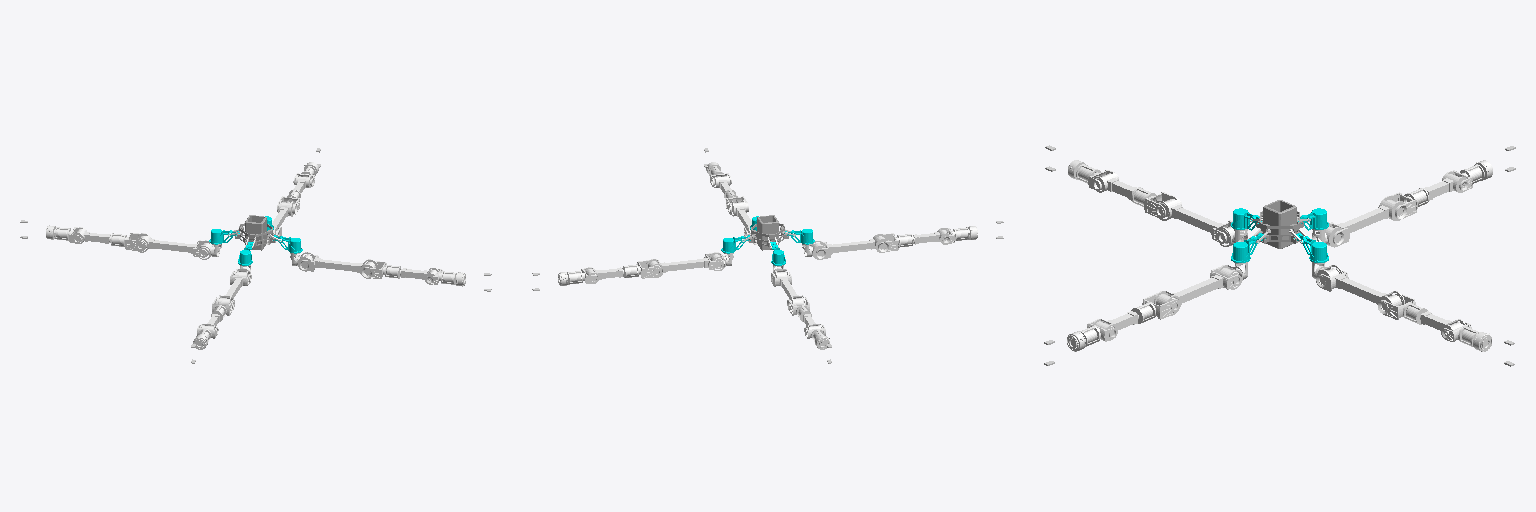
--- What the picture shows (computed from the rendered views, not written in the file) ---
3 views of the same robot in one strip: view 1: azimuth 30°, elevation 25°; view 2: azimuth 150°, elevation 25°; view 3: azimuth 270°, elevation 25° (orthographic).
Robot: robot_description — 78 links, 77 joints (56 revolute, 1 prismatic, 20 fixed); root link base_link; default pose: every joint at zero.
Visible links, largest first — view 1: Link4_2, Link2_2, base_link; view 2: Link3_2, Link1_2, base_link; view 3: base_link, Link1_2, Link4_2, Link2_2, Link3_2, Link4_3, Link1_3, Link3_3, Link2_3, Link3_4, Link2_4.
Link boxes in pixels (x1=…): Link4_2: x1=299, y1=254, x2=377, y2=278; Link2_2: x1=136, y1=233, x2=207, y2=257; base_link: x1=235, y1=215, x2=275, y2=250; Link3_2: x1=815, y1=234, x2=888, y2=258; Link1_2: x1=646, y1=253, x2=723, y2=277; base_link: x1=748, y1=215, x2=788, y2=250; base_link: x1=1256, y1=200, x2=1303, y2=248; Link1_2: x1=1316, y1=268, x2=1404, y2=315; Link4_2: x1=1154, y1=267, x2=1241, y2=315; Link2_2: x1=1329, y1=196, x2=1404, y2=245; Link3_2: x1=1156, y1=196, x2=1243, y2=243; Link4_3: x1=1131, y1=293, x2=1180, y2=323; Link1_3: x1=1378, y1=294, x2=1427, y2=324; Link3_3: x1=1132, y1=187, x2=1181, y2=218; Link2_3: x1=1379, y1=188, x2=1428, y2=219; Link3_4: x1=1094, y1=171, x2=1136, y2=200; Link2_4: x1=1424, y1=171, x2=1466, y2=200.
Size in the robot's own frame: 1.88 by 1.88 by 0.2682 metres.
34 mesh visuals loaded from 15 distinct referenced files (10 binary STL); not drawn: 36 (reference not matched to a file when rendering).

robot.urdf — robot_description:
<?xml version="1.0" ?>
<!-- =================================================================================== -->
<!-- |    This document was autogenerated by xacro from robot_description.xacro        | -->
<!-- |    EDITING THIS FILE BY HAND IS NOT RECOMMENDED                                 | -->
<!-- =================================================================================== -->
<!-- This URDF was automatically created by SolidWorks to URDF Exporter! Originally created by Stephen Brawner ([email redacted]) 
     Commit Version: 1.6.0-1-g15f4949  Build Version: 1.6.7594.29634
     For more information, please see http://wiki.ros.org/sw_urdf_exporter -->
<robot name="robot_description">
    <!--body*********************************************************************************************************-->
    <!-- <link name="world" /> -->

    <link name="base_link">
        <inertial>
            <origin rpy="0 0 0" xyz="0 0 0.042" />
            <mass value="1.492" />
            <inertia ixx="0.004886486" ixy="-0.000017397" ixz="-0.000263075" iyy="0.004100237" iyz="0" izz="0.003937989" />
        </inertial>
        <visual>
            <origin rpy="0 0 0" xyz="0 0 0" />
            <geometry>
                <mesh filename="package://robot_description/meshes/base_link.STL" />
            </geometry>
            <material name="">
                <color rgba="0.75294 0.75294 0.75294 1" />
            </material>
        </visual>
        <collision>
            <origin rpy="0 0 0" xyz="0 0 0" />
            <geometry>
                <mesh filename="package://robot_description/meshes/base_link.STL" />
            </geometry>
            <surface>
                <friction>
                    <torsional>
                        <coefficient>5.0</coefficient>
                        <surface_radius>0.10</surface_radius>
                        <use_patch_radius>false</use_patch_radius>
                    </torsional>
                </friction>
            </surface>
        </collision>
    </link>
    <!-- <joint name="world_to_truss_link" type="fixed">
        <parent link="world" />
        <child link="truss_link" />
        <origin rpy="1.5708 0 3.1415" xyz="0.6625 0 0" />
    </joint>
    <link name="truss_link">
        <inertial>
            <origin rpy="0 0 0" xyz="0.36747875296263 -0.0267703008644749 2.17639122268576E-06" />
            <mass value="21.7746312239973" />
            <inertia ixx="6.13854571738268" ixy="0.0126716758688149" ixz="-0.000126373819517297" iyy="16.7375552194284" iyz="-1.43555608026521E-06" izz="10.6624119014708" />
        </inertial>
        <visual>
            <origin rpy="0 0 0" xyz="0 0 0" />
            <geometry>
                <mesh filename="package://robot_description/meshes/truss_link.STL" />
            </geometry>
            <material name="">
                <color rgba="0.792156862745098 0.819607843137255 0.933333333333333 1" />
            </material>
        </visual>
        <collision>
            <origin rpy="0 0 0" xyz="0 0 0" />
            <geometry>
                <mesh filename="package://robot_description/meshes/truss_link.STL" />
            </geometry>
        </collision>
    </link>
    <link name="dummy_point1" />
    <joint name="truss_link_to_point1" type="fixed">
        <parent link="truss_link" />
        <child link="dummy_point1" />
        <origin rpy="1.5708 0 0" xyz="0.795 0 0.53" />
    </joint>
    <link name="dummy_point2" />
    <joint name="truss_link_to_point2" type="fixed">
        <parent link="truss_link" />
        <child link="dummy_point2" />
        <origin rpy="1.5708 0 0" xyz="0.795 0 -0.53" />
    </joint>
    <link name="dummy_point3" />
    <joint name="truss_link_to_point3" type="fixed">
        <parent link="truss_link" />
        <child link="dummy_point3" />
        <origin rpy="1.5708 0.707 0" xyz="0.08 0.18 0.40" />
    </joint>
    <link name="dummy_point4" />
    <joint name="truss_link_to_point4" type="fixed">
        <parent link="truss_link" />
        <child link="dummy_point4" />
        <origin rpy="0 0 0" xyz="0 0.215 -0.3" />
    </joint>
    <link name="object" />
    <joint name="truss_link_to_obj" type="fixed">
        <parent link="truss_link" />
        <child link="object" />
        <origin rpy="1.5708 0.707 0" xyz="0.08 0.03 0.40" />
    </joint>
    <link name="object1" />
    <joint name="truss_link_to_obj1" type="fixed">
        <parent link="truss_link" />
        <child link="object1" />
        <origin rpy="0 3.1416 0" xyz="-0.1 0.215 0.085" />
    </joint>
    <link name="object2" />
    <joint name="truss_link_to_obj2" type="fixed">
        <parent link="truss_link" />
        <child link="object2" />
        <origin rpy="0 0 -1.5708" xyz="-0.265 0.215 -0.35" />
    </joint>
    <link name="cube_l" />
    <joint name="truss_link_to_cube_l" type="fixed">
        <parent link="truss_link" />
        <child link="cube_l" />
        <origin rpy="0 3.1416 0" xyz="-0.1175 0.12 0.2325" />
    </joint>
    <link name="cube_r" />
    <joint name="truss_link_to_cube_r" type="fixed">
        <parent link="truss_link" />
        <child link="cube_r" />
        <origin rpy="0 0 0" xyz="-0.1175 0.12 -0.2325" />
    </joint> -->
    <link name="Link_platform">
        <inertial>
            <origin rpy="0 0 0" xyz="0 0 0.011605" />
            <mass value="0.218" />
            <inertia ixx="0.000745872" ixy="0" ixz="0" iyy="0.000792081" iyz="0" izz="0.001494320" />
        </inertial>
        <visual>
            <origin rpy="0 0 0" xyz="0 0 0" />
            <geometry>
                <mesh filename="package://robot_description/meshes/Link_platform.STL" />
            </geometry>
            <material name="">
                <color rgba="0.75294 0.75294 0.75294 1" />
            </material>
        </visual>
        <collision>
            <origin rpy="0 0 0" xyz="0 0 0" />
            <geometry>
                <mesh filename="package://robot_description/meshes/Link_platform.STL" />
            </geometry>
        </collision>
    </link>
    <joint name="Joint_platform" type="prismatic">
        <origin rpy="0 0 0" xyz="0 0 0.043397" />
        <parent link="base_link" />
        <child link="Link_platform" />
        <axis xyz="0 0 1" />
        <dynamics damping="0.1" friction="0.8" />
        <limit effort="1000" lower="0" upper="0.5" velocity="10" />
    </joint>
    <link name="Link1_0">
        <inertial>
            <origin rpy="0 0 0" xyz="0.085427 -0.025518 0" />
            <mass value="0.960" />
            <inertia ixx="0.000648473" ixy="-0.001018876" ixz="0.000012959" iyy="0.002674366" iyz="0" izz="0.003031056" />
        </inertial>
        <visual>
            <origin rpy="0 0 0" xyz="0 0 0" />
            <geometry>
                <mesh filename="package://robot_description/meshes/Link_0.STL" />
            </geometry>
            <material name="">
                <color rgba="0 1 1 1" />
            </material>
        </visual>
        <collision>
            <origin rpy="0 0 0" xyz="0 0 0" />
            <geometry>
                <mesh filename="package://robot_description/meshes/Link_0.STL" />
            </geometry>
        </collision>
    </link>
    <joint name="Joint1_0" type="revolute">
        <origin rpy="1.5707963267948966 0 0.7853981633974483" xyz="0.072125 0.072125 0.018" />
        <parent link="base_link" />
        <child link="Link1_0" />
        <axis xyz="0 0 1" />
        <dynamics damping="0.1" friction="0.8" />
        <limit effort="1000" lower="0" upper="1.5707963267948966" velocity="10" />
    </joint>
    <link name="Link1_1">
        <inertial>
            <origin rpy="0 0 0" xyz="0.052469 -0.009040 0.002060" />
            <mass value="0.914" />
            <inertia ixx="0.000671687" ixy="-0.000084224" ixz="-0.000107815" iyy="0.000786758" iyz="0.000017298" izz="0.000958254" />
        </inertial>
        <visual>
            <origin rpy="0 0 0" xyz="0 0 0" />
            <geometry>
                <mesh filename="package://robot_description/meshes/Link_1.STL" />
            </geometry>
            <material name="">
                <color rgba="1 1 1 1" />
            </material>
        </visual>
        <collision>
            <origin rpy="0 0 0" xyz="0 0 0" />
            <geometry>
                <mesh filename="package://robot_description/meshes/Link_1.STL" />
            </geometry>
        </collision>
    </link>
    <joint name="Joint1_1" type="revolute">
        <origin rpy="-1.5707963267948966 0 0" xyz="0.12 -0.117 0" />
        <parent link="Link1_0" />
        <child link="Link1_1" />
        <axis xyz="0 0 1" />
        <dynamics damping="0.1" friction="0.8" />
        <limit effort="300" lower="-2.356194490192345" upper="4.71238898038469" velocity="10" />
    </joint>
    <link name="Link1_2">
        <inertial>
            <origin rpy="0 0 0" xyz="0.273270 0.000006 0.007530" />
            <mass value="1.144" />
            <inertia ixx="0.000909959" ixy="0" ixz="0.000569994" iyy="0.018834040" iyz="0" izz="0.018336908" />
        </inertial>
        <visual>
            <origin rpy="0 0 0" xyz="0 0 0" />
            <geometry>
                <mesh filename="package://robot_description/meshes/Link_2.STL" />
            </geometry>
            <material name="">
                <color rgba="1 1 1 1" />
            </material>
        </visual>
        <collision>
            <origin rpy="0 0 0" xyz="0 0 0" />
            <geometry>
                <mesh filename="package://robot_description/meshes/Link_2.STL" />
            </geometry>
        </collision>
    </link>
    <joint name="Joint1_2" type="revolute">
        <origin rpy="1.5707963267948966 0 0" xyz="0.0625 -0.0025 0" />
        <parent link="Link1_1" />
        <child link="Link1_2" />
        <axis xyz="0 0 1" />
        <dynamics damping="0.1" friction="0.8" />
        <limit effort="300" lower="-2.0943951023931953" upper="1.5707963267948966" velocity="10" />
    </joint>
    <link name="Link1_3">
        <inertial>
            <origin rpy="0 0 0" xyz="0.081336 -0.0003 -0.000693" />
            <mass value="0.395" />
            <inertia ixx="0.000576423" ixy="0" ixz="0.000031283" iyy="0.001662107" iyz="0" izz="0.001334389" />
        </inertial>
        <visual>
            <origin rpy="0 0 0" xyz="0 0 0" />
            <geometry>
                <mesh filename="package://robot_description/meshes/Link_3.STL" />
            </geometry>
            <material name="">
                <color rgba="1 1 1 1" />
            </material>
        </visual>
        <collision>
            <origin rpy="0 0 0" xyz="0 0 0" />
            <geometry>
                <mesh filename="package://robot_description/meshes/Link_3.STL" />
            </geometry>
        </collision>
    </link>
    <joint name="Joint1_3" type="revolute">
        <origin rpy="-3.141592653589793 0 0" xyz="0.35 0.0002 0" />
        <parent link="Link1_2" />
        <child link="Link1_3" />
        <axis xyz="0 0 1" />
        <dynamics damping="0.1" friction="0.8" />
        <limit effort="300" lower="-2.530727415391778" upper="2.530727415391778" velocity="10" />
    </joint>
    <link name="Link1_4">
        <inertial>
            <origin rpy="0 0 0" xyz="0.005438 0.000120 0.134002" />
            <mass value="0.376" />
            <inertia ixx="0.0001484574" ixy="0" ixz="0.000099045" iyy="0.001658464" iyz="-0.000002871" izz="0.000360737" />
        </inertial>
        <visual>
            <origin rpy="0 0 0" xyz="0 0 0" />
            <geometry>
                <mesh filename="package://robot_description/meshes/Link_4.STL" />
            </geometry>
            <material name="">
                <color rgba="1 1 1 1" />
            </material>
        </visual>
        <collision>
            <origin rpy="0 0 0" xyz="0 0 0" />
            <geometry>
                <mesh filename="package://robot_description/meshes/Link_4.STL" />
            </geometry>
        </collision>
    </link>
    <joint name="Joint1_4" type="revolute">
        <origin rpy="0 -1.5707963267948966 -3.141592653589793" xyz="0.1745 0 0" />
        <parent link="Link1_3" />
        <child link="Link1_4" />
        <axis xyz="0 0 1" />
        <dynamics damping="0.1" friction="0.8" />
        <limit effort="100" lower="-3.141592653589793" upper="3.141592653589793" velocity="10" />
    </joint>
    <link name="Link1_5">
        <inertial>
            <origin rpy="0 0 0" xyz="0.058277 0 -0.001068" />
            <mass value="0.327" />
            <inertia ixx="0.000412080" ixy="0" ixz="0.000002889" iyy="0.000943104" iyz="0" izz="0.000708641" />
        </inertial>
        <visual>
            <origin rpy="0 0 0" xyz="0 0 0" />
            <geometry>
                <mesh filename="package://robot_description/meshes/Link_5.STL" />
            </geometry>
            <material name="">
                <color rgba="1 1 1 1" />
            </material>
        </visual>
        <collision>
            <origin rpy="0 0 0" xyz="0 0 0" />
            <geometry>
                <mesh filename="package://robot_description/meshes/Link_5.STL" />
            </geometry>
        </collision>
    </link>
    <joint name="Joint1_5" type="revolute">
        <origin rpy="3.141592653589793 -1.5707963267948966 0" xyz="0 0 0.1795" />
        <parent link="Link1_4" />
        <child link="Link1_5" />
        <axis xyz="0 0 1" />
        <dynamics damping="0.1" friction="0.8" />
        <limit effort="100" lower="-1.9198621771937623" upper="1.9198621771937623" velocity="10" />
    </joint>
    <link name="Link1_6">
        <inertial>
            <origin rpy="0 0 0" xyz="-0.000076 -0.001467 0.088450" />
            <mass value="0.366" />
            <inertia ixx="0.000945510" ixy="-0.000011196" ixz="0" iyy="0.000811306" iyz="-0.000011704" izz="0.000402389" />
        </inertial>
        <visual>
            <origin rpy="0 0 0" xyz="0 0 0" />
            <geometry>
                <mesh filename="package://robot_description/meshes/Link_6.STL" />
            </geometry>
            <material name="">
                <color rgba="1 1 1 1" />
            </material>
        </visual>
        <collision>
            <origin rpy="0 0 0" xyz="0 0 0" />
            <geometry>
                <mesh filename="package://robot_description/meshes/Link_6.STL" />
            </geometry>
        </collision>
    </link>
    <joint name="Joint1_6" type="revolute">
        <origin rpy="3.141592653589793 -1.5707963267948966 0" xyz="0.141 0 0" />
        <parent link="Link1_5" />
        <child link="Link1_6" />
        <axis xyz="0 0 1" />
        <dynamics damping="0.1" friction="0.8" />
        <limit effort="100" lower="-3.141592653589793" upper="3.141592653589793" velocity="10" />
    </joint>
    <joint name="Joint1_hand" type="fixed">
        <parent link="Link1_6" />
        <child link="Link1_robotiq_arg2f_base_link" />
        <origin rpy="0 0 0" xyz="0 0 0.0385" />
    </joint>
    <transmission name="Link1_finger_joint_trans">
        <type>transmission_interface/SimpleTransmission</type>
        <joint name="Link1_finger_joint">
            <hardwareInterface>hardware_interface/EffortJointInterface</hardwareInterface>
        </joint>
        <actuator name="Link1_finger_joint_motor">
            <mechanicalReduction>1</mechanicalReduction>
            <hardwareInterface>hardware_interface/EffortJointInterface</hardwareInterface>
        </actuator>
    </transmission>
    <!-- base link -->
    <link name="Link1_robotiq_arg2f_base_link">
        <inertial>
            <origin rpy="0 0 0" xyz="8.625E-08 -4.6583E-06 0.03145" />
            <mass value="0.22652" />
            <inertia ixx="0.00020005" ixy="-4.2442E-10" ixz="-2.9069E-10" iyy="0.00017832" iyz="-3.4402E-08" izz="0.00013478" />
        </inertial>
        <visual>
            <origin rpy="0 0 0" xyz="0 0 0" />
            <geometry>
                <mesh filename="package://robotiq_2f_85_gripper_visualization/meshes/visual/robotiq_arg2f_base_link.stl" />
            </geometry>
            <material name="">
                <color rgba="0.1 0.1 0.1 1" />
            </material>
        </visual>
        <collision>
            <origin rpy="0 0 0" xyz="0 0 0" />
            <!-- <geometry><sphere radius="0.04" /></geometry> -->
            <geometry>
                <mesh filename="package://robotiq_2f_85_gripper_visualization/meshes/collision/robotiq_arg2f_base_link.stl" />
            </geometry>
            <surface>
                <friction>
                    <torsional>
                        <coefficient>5.0</coefficient>
                        <surface_radius>0.01</surface_radius>
                        <use_patch_radius>false</use_patch_radius>
                    </torsional>
                </friction>
            </surface>
        </collision>
    </link>
    <link name="Link1_left_outer_knuckle">
        <inertial>
            <origin rpy="0 0 0" xyz="-0.000200000000003065 0.0199435877845359 0.0292245259211331" />
            <mass value="0.00853198276973456" />
            <inertia ixx="2.89328108496468E-06" ixy="-1.57935047237397E-19" ixz="-1.93980378593255E-19" iyy="1.86719750325683E-06" iyz="-1.21858577871576E-06" izz="1.21905238907251E-06" />
        </inertial>
        <visual>
            <origin rpy="0 0 0" xyz="0 0 0" />
            <geometry>
                <mesh filename="package://robotiq_2f_85_gripper_visualization/meshes/visual/robotiq_arg2f_85_outer_knuckle.dae" scale="0.001 0.001 0.001" />
            </geometry>
            <material name="">
                <color rgba="0.792156862745098 0.819607843137255 0.933333333333333 1" />
            </material>
        </visual>
        <collision>
            <origin rpy="0 0 0" xyz="0 0 0" />
            <geometry>
                <mesh filename="package://robotiq_2f_85_gripper_visualization/meshes/collision/robotiq_arg2f_85_outer_knuckle.dae" scale="0.001 0.001 0.001" />
            </geometry>
        </collision>
    </link>
    <link name="Link1_left_outer_finger">
        <inertial>
            <origin rpy="0 0 0" xyz="0.00030115855001899 0.0373907951953854 -0.0208027427000385" />
            <mass value="0.022614240507152" />
            <inertia ixx="1.52518312458174E-05" ixy="9.76583423954399E-10" ixz="-5.43838577022588E-10" iyy="6.17694243867776E-06" iyz="6.78636130740228E-06" izz="1.16494917907219E-05" />
        </inertial>
        <visual>
            <origin rpy="0 0 0" xyz="0 0 0" />
            <geometry>
                <mesh filename="package://robotiq_2f_85_gripper_visualization/meshes/visual/robotiq_arg2f_85_outer_finger.dae" scale="0.001 0.001 0.001" />
            </geometry>
            <material name="">
                <color rgba="0.1 0.1 0.1 1" />
            </material>
        </visual>
        <collision>
            <origin rpy="0 0 0" xyz="0 0 0" />
            <geometry>
                <mesh filename="package://robotiq_2f_85_gripper_visualization/meshes/collision/robotiq_arg2f_85_outer_finger.dae" scale="0.001 0.001 0.001" />
            </geometry>
        </collision>
    </link>
    <link name="Link1_left_inner_finger">
        <inertial>
            <origin rpy="0 0 0" xyz="0.000299999999999317 0.0160078233491243 -0.0136945669206257" />
            <mass value="0.0104003125914103" />
            <inertia ixx="2.71909453810972E-06" ixy="1.35402465472579E-21" ixz="-7.1817349065269E-22" iyy="7.69100314106116E-07" iyz="6.74715432769696E-07" izz="2.30315190420171E-06" />
        </inertial>
        <visual>
            <origin rpy="0 0 0" xyz="0 0 0" />
            <geometry>
                <mesh filename="package://robotiq_2f_85_gripper_visualization/meshes/visual/robotiq_arg2f_85_inner_finger.dae" scale="0.001 0.001 0.001" />
            </geometry>
            <material name="">
                <color rgba="0.1 0.1 0.1 1" />
            </material>
        </visual>
        <collision>
            <origin rpy="0 0 0" xyz="0 0 0" />
            <geometry>
                <mesh filename="package://robotiq_2f_85_gripper_visualization/meshes/collision/robotiq_arg2f_85_inner_finger.dae" scale="0.001 0.001 0.001" />
            </geometry>
        </collision>
    </link>
    <link name="Link1_left_inner_finger_pad">
        <visual>
            <origin rpy="0 0 0" xyz="0 0 0" />
            <geometry>
                <box size="0.022 0.00635 0.0375" />
            </geometry>
            <material name="">
                <color rgba="0.9 0.9 0.9 1" />
            </material>
        </visual>
        <collision>
            <origin rpy="0 0 0" xyz="0 0 0" />
            <geometry>
                <box size="0.022 0.00635 0.0375" />
            </geometry>
            <material name="">
                <color rgba="0.9 0.0 0.0 1" />
            </material>
        </collision>
        <inertial>
            <mass value="0.1" />
            <origin xyz="0 0 0" rpy="0 0 0" />
            <inertia ixx="0.03" iyy="0.03" izz="0.03" ixy="0.0" ixz="0.0" iyz="0.0" />
        </inertial>
    </link>
    <link name="Link1_left_inner_knuckle">
        <inertial>
            <origin rpy="0 0 0" xyz="0.000123011831763771 0.0507850843201817 0.00103968640075166" />
            <mass value="0.0271177346495152" />
            <inertia ixx="2.61910379223783E-05" ixy="-2.43616858946494E-07" ixz="-6.37789906117123E-09" iyy="2.8270243746167E-06" iyz="-5.37200748039765E-07" izz="2.83695868220296E-05" />
        </inertial>
        <visual>
            <origin rpy="0 0 0" xyz="0 0 0" />
            <geometry>
                <mesh filename="package://robotiq_2f_85_gripper_visualization/meshes/visual/robotiq_arg2f_85_inner_knuckle.dae" scale="0.001 0.001 0.001" />
            </geometry>
            <material name="">
                <color rgba="0.1 0.1 0.1 1" />
            </material>
        </visual>
        <collision>
            <origin rpy="0 0 0" xyz="0 0 0" />
            <geometry>
                <mesh filename="package://robotiq_2f_85_gripper_visualization/meshes/collision/robotiq_arg2f_85_inner_knuckle.dae" scale="0.001 0.001 0.001" />
            </geometry>
        </collision>
    </link>
    <joint name="Link1_left_outer_finger_joint" type="fixed">
        <origin rpy="0 0 0" xyz="0 0.0315 -0.0041" />
        <parent link="Link1_left_outer_knuckle" />
        <child link="Link1_left_outer_finger" />
        <axis xyz="1 0 0" />
    </joint>
    <joint name="Link1_left_inner_knuckle_joint" type="revolute">
        <!-- <origin xyz="0 ${reflect * -0.0127} 0.06142" rpy="${pi / 2 + .725} 0 ${(reflect - 1) * pi / 2}" /> -->
        <origin rpy="0 0 3.141592653589793" xyz="0 -0.0127 0.06142" />
        <parent link="Link1_robotiq_arg2f_base_link" />
        <child link="Link1_left_inner_knuckle" />
        <axis xyz="1 0 0" />
        <limit effort="1000" lower="0" upper="0.8757" velocity="0.5" />
        <mimic joint="Link1_finger_joint" multiplier="1" offset="0" />
    </joint>
    <joint name="Link1_left_inner_finger_joint" type="revolute">
        <origin rpy="0 0 0" xyz="0 0.0061 0.0471" />
        <parent link="Link1_left_outer_finger" />
        <child link="Link1_left_inner_finger" />
        <axis xyz="1 0 0" />
        <limit effort="1000" lower="-0.8757" upper="0" velocity="0.5" />
        <mimic joint="Link1_finger_joint" multiplier="-1" offset="0" />
    </joint>
    <joint name="Link1_left_inner_finger_pad_joint" type="fixed">
        <origin rpy="0 0 0" xyz="0 -0.0220203446692936 0.03242" />
        <parent link="Link1_left_inner_finger" />
        <child link="Link1_left_inner_finger_pad" />
        <axis xyz="0 0 1" />
    </joint>
    <joint name="Link1_finger_joint" type="revolute">
        <origin rpy="0 0 3.141592653589793" xyz="0 -0.0306011 0.054904" />
        <parent link="Link1_robotiq_arg2f_base_link" />
        <child link="Link1_left_outer_knuckle" />
        <axis xyz="1 0 0" />
        <limit effort="1000" lower="0" upper="0.8" velocity="0.5" />
    </joint>
    <joint name="Link1_right_outer_finger_joint" type="fixed">
        <origin rpy="0 0 0" xyz="0 0.0315 -0.0041" />
        <parent link="Link1_right_outer_knuckle" />
        <child link="Link1_right_outer_finger" />
        <axis xyz="1 0 0" />
    </joint>
    <joint name="Link1_right_inner_knuckle_joint" type="revolute">
        <!-- <origin xyz="0 ${reflect * -0.0127} 0.06142" rpy="${pi / 2 + .725} 0 ${(reflect - 1) * pi / 2}" /> -->
        <origin rpy="0 0 0.0" xyz="0 0.0127 0.06142" />
        <parent link="Link1_robotiq_arg2f_base_link" />
        <child link="Link1_right_inner_knuckle" />
        <axis xyz="1 0 0" />
        <limit effort="1000" lower="0" upper="0.8757" velocity="0.5" />
        <mimic joint="Link1_finger_joint" multiplier="1" offset="0" />
    </joint>
    <joint name="Link1_right_inner_finger_joint" type="revolute">
        <origin rpy="0 0 0" xyz="0 0.0061 0.0471" />
        <parent link="Link1_right_outer_finger" />
        <child link="Link1_right_inner_finger" />
        <axis xyz="1 0 0" />
        <limit effort="1000" lower="-0.8757" upper="0" velocity="0.5" />
        <mimic joint="Link1_finger_joint" multiplier="-1" offset="0" />
    </joint>
    <joint name="Link1_right_inner_finger_pad_joint" type="fixed">
        <origin rpy="0 0 0" xyz="0 -0.0220203446692936 0.03242" />
        <parent link="Link1_right_inner_finger" />
        <child link="Link1_right_inner_finger_pad" />
        <axis xyz="0 0 1" />
    </joint>
    <link name="Link1_right_outer_knuckle">
        <inertial>
            <origin rpy="0 0 0" xyz="-0.000200000000003065 0.0199435877845359 0.0292245259211331" />
            <mass value="0.00853198276973456" />
            <inertia ixx="2.89328108496468E-06" ixy="-1.57935047237397E-19" ixz="-1.93980378593255E-19" iyy="1.86719750325683E-06" iyz="-1.21858577871576E-06" izz="1.21905238907251E-06" />
        </inertial>
        <visual>
            <origin rpy="0 0 0" xyz="0 0 0" />
            <geometry>
                <mesh filename="package://robotiq_2f_85_gripper_visualization/meshes/visual/robotiq_arg2f_85_outer_knuckle.dae" scale="0.001 0.001 0.001" />
            </geometry>
            <material name="">
                <color rgba="0.792156862745098 0.819607843137255 0.933333333333333 1" />
            </material>
        </visual>
        <collision>
            <origin rpy="0 0 0" xyz="0 0 0" />
            <geometry>
                <mesh filename="package://robotiq_2f_85_gripper_visualization/meshes/collision/robotiq_arg2f_85_outer_knuckle.dae" scale="0.001 0.001 0.001" />
            </geometry>
        </collision>
    </link>
    <link name="Link1_right_outer_finger">
        <inertial>
            <origin rpy="0 0 0" xyz="0.00030115855001899 0.0373907951953854 -0.0208027427000385" />
            <mass value="0.022614240507152" />
            <inertia ixx="1.52518312458174E-05" ixy="9.76583423954399E-10" ixz="-5.43838577022588E-10" iyy="6.17694243867776E-06" iyz="6.78636130740228E-06" izz="1.16494917907219E-05" />
        </inertial>
        <visual>
            <origin rpy="0 0 0" xyz="0 0 0" />
            <geometry>
                <mesh filename="package://robotiq_2f_85_gripper_visualization/meshes/visual/robotiq_arg2f_85_outer_finger.dae" scale="0.001 0.001 0.001" />
            </geometry>
            <material name="">
                <color rgba="0.1 0.1 0.1 1" />
            </material>
        </visual>
        <collision>
            <origin rpy="0 0 0" xyz="0 0 0" />
            <geometry>
                <mesh filename="package://robotiq_2f_85_gripper_visualization/meshes/collision/robotiq_arg2f_85_outer_finger.dae" scale="0.001 0.001 0.001" />
            </geometry>
        </collision>
    </link>
    <link name="Link1_right_inner_finger">
        <inertial>
            <origin rpy="0 0 0" xyz="0.000299999999999317 0.0160078233491243 -0.0136945669206257" />
            <mass value="0.0104003125914103" />
            <inertia ixx="2.71909453810972E-06" ixy="1.35402465472579E-21" ixz="-7.1817349065269E-22" iyy="7.69100314106116E-07" iyz="6.74715432769696E-07" izz="2.30315190420171E-06" />
        </inertial>
        <visual>
            <origin rpy="0 0 0" xyz="0 0 0" />
            <geometry>
                <mesh filename="package://robotiq_2f_85_gripper_visualization/meshes/visual/robotiq_arg2f_85_inner_finger.dae" scale="0.001 0.001 0.001" />
            </geometry>
            <material name="">
                <color rgba="0.1 0.1 0.1 1" />
            </material>
        </visual>
        <collision>
            <origin rpy="0 0 0" xyz="0 0 0" />
            <geometry>
                <mesh filename="package://robotiq_2f_85_gripper_visualization/meshes/collision/robotiq_arg2f_85_inner_finger.dae" scale="0.001 0.001 0.001" />
            </geometry>
        </collision>
    </link>
    <link name="Link1_right_inner_finger_pad">
        <visual>
            <origin rpy="0 0 0" xyz="0 0 0" />
            <geometry>
                <box size="0.022 0.00635 0.0375" />
            </geometry>
            <material name="">
                <color rgba="0.9 0.9 0.9 1" />
            </material>
        </visual>
        <collision>
            <origin rpy="0 0 0" xyz="0 0 0" />
            <geometry>
                <box size="0.022 0.00635 0.0375" />
            </geometry>
            <material name="">
                <color rgba="0.9 0.0 0.0 1" />
            </material>
        </collision>
        <inertial>
            <mass value="0.1" />
            <origin xyz="0 0 0" rpy="0 0 0" />
            <inertia ixx="0.03" iyy="0.03" izz="0.03" ixy="0.0" ixz="0.0" iyz="0.0" />
        </inertial>
    </link>
    <link name="Link1_right_inner_knuckle">
        <inertial>
            <origin rpy="0 0 0" xyz="0.000123011831763771 0.0507850843201817 0.00103968640075166" />
            <mass value="0.0271177346495152" />
            <inertia ixx="2.61910379223783E-05" ixy="-2.43616858946494E-07" ixz="-6.37789906117123E-09" iyy="2.8270243746167E-06" iyz="-5.37200748039765E-07" izz="2.83695868220296E-05" />
        </inertial>
        <visual>
            <origin rpy="0 0 0" xyz="0 0 0" />
            <geometry>
                <mesh filename="package://robotiq_2f_85_gripper_visualization/meshes/visual/robotiq_arg2f_85_inner_knuckle.dae" scale="0.001 0.001 0.001" />
            </geometry>
            <material name="">
                <color rgba="0.1 0.1 0.1 1" />
            </material>
        </visual>
        <collision>
            <origin rpy="0 0 0" xyz="0 0 0" />
            <geometry>
                <mesh filename="package://robotiq_2f_85_gripper_visualization/meshes/collision/robotiq_arg2f_85_inner_knuckle.dae" scale="0.001 0.001 0.001" />
            </geometry>
        </collision>
    </link>
    <joint name="Link1_right_finger_joint" type="revolute">
        <origin rpy="0 0 0" xyz="0 0.0306011 0.054904" />
        <parent link="Link1_robotiq_arg2f_base_link" />
        <child link="Link1_right_outer_knuckle" />
        <axis xyz="1 0 0" />
        <limit effort="1000" lower="0" upper="0.81" velocity="0.5" />
        <mimic joint="Link1_finger_joint" multiplier="1" offset="0" />
    </joint>
    <link name="Link2_0">
        <inertial>
            <origin rpy="0 0 0" xyz="0.085427 -0.025518 0" />
            <mass value="0.960" />
            <inertia ixx="0.000648473" ixy="-0.001018876" ixz="0.000012959" iyy="0.002674366" iyz="0" izz="0.003031056" />
        </inertial>
        <visual>
            <origin rpy="0 0 0" xyz="0 0 0" />
            <geometry>
                <mesh filename="package://robot_description/meshes/Link_0.STL" />
            </geometry>
            <material name="">
                <color rgba="0 1 1 1" />
            </material>
        </visual>
        <collision>
            <origin rpy="0 0 0" xyz="0 0 0" />
            <geometry>
                <mesh filename="package://robot_description/meshes/Link_0.STL" />
            </geometry>
        </collision>
    </link>
    <joint name="Joint2_0" type="revolute">
        <origin rpy="1.5707963267948966 0 2.356194490192345" xyz="-0.072125 0.072125 0.018" />
        <parent link="base_link" />
        <child link="Link2_0" />
        <axis xyz="0 0 1" />
        <dynamics damping="0.1" friction="0.8" />
        <limit effort="1000" lower="0" upper="1.5707963267948966" velocity="10" />
    </joint>
    <link name="Link2_1">
        <inertial>
            <origin rpy="0 0 0" xyz="0.052469 -0.009040 0.002060" />
            <mass value="0.914" />
            <inertia ixx="0.000671687" ixy="-0.000084224" ixz="-0.000107815" iyy="0.000786758" iyz="0.000017298" izz="0.000958254" />
        </inertial>
        <visual>
            <origin rpy="0 0 0" xyz="0 0 0" />
            <geometry>
                <mesh filename="package://robot_description/meshes/Link_1.STL" />
            </geometry>
            <material name="">
                <color rgba="1 1 1 1" />
            </material>
        </visual>
        <collision>
            <origin rpy="0 0 0" xyz="0 0 0" />
            <geometry>
                <mesh filename="package://robot_description/meshes/Link_1.STL" />
            </geometry>
        </collision>
    </link>
    <joint name="Joint2_1" type="revolute">
        <origin rpy="-1.5707963267948966 0 0" xyz="0.12 -0.117 0" />
        <parent link="Link2_0" />
        <child link="Link2_1" />
        <axis xyz="0 0 1" />
        <dynamics damping="0.1" friction="0.8" />
        <limit effort="300" lower="-2.356194490192345" upper="4.71238898038469" velocity="10" />
    </joint>
    <link name="Link2_2">
        <inertial>
            <origin rpy="0 0 0" xyz="0.273270 0.000006 0.007530" />
            <mass value="1.144" />
            <inertia ixx="0.000909959" ixy="0" ixz="0.000569994" iyy="0.018834040" iyz="0" izz="0.018336908" />
        </inertial>
        <visual>
            <origin rpy="0 0 0" xyz="0 0 0" />
            <geometry>
                <mesh filename="package://robot_description/meshes/Link_2.STL" />
            </geometry>
            <material name="">
                <color rgba="1 1 1 1" />
            </material>
        </visual>
        <collision>
            <origin rpy="0 0 0" xyz="0 0 0" />
            <geometry>
                <mesh filename="package://robot_description/meshes/Link_2.STL" />
            </geometry>
        </collision>
    </link>
    <joint name="Joint2_2" type="revolute">
        <origin rpy="1.5707963267948966 0 0" xyz="0.0625 -0.0025 0" />
        <parent link="Link2_1" />
        <child link="Link2_2" />
        <axis xyz="0 0 1" />
        <dynamics damping="0.1" friction="0.8" />
        <limit effort="300" lower="-2.0943951023931953" upper="1.5707963267948966" velocity="10" />
    </joint>
    <link name="Link2_3">
        <inertial>
            <origin rpy="0 0 0" xyz="0.081336 -0.0003 -0.000693" />
            <mass value="0.395" />
            <inertia ixx="0.000576423" ixy="0" ixz="0.000031283" iyy="0.001662107" iyz="0" izz="0.001334389" />
        </inertial>
        <visual>
            <origin rpy="0 0 0" xyz="0 0 0" />
            <geometry>
                <mesh filename="package://robot_description/meshes/Link_3.STL" />
            </geometry>
            <material name="">
                <color rgba="1 1 1 1" />
            </material>
        </visual>
        <collision>
            <origin rpy="0 0 0" xyz="0 0 0" />
            <geometry>
                <mesh filename="package://robot_description/meshes/Link_3.STL" />
            </geometry>
        </collision>
    </link>
    <joint name="Joint2_3" type="revolute">
        <origin rpy="-3.141592653589793 0 0" xyz="0.35 0.0002 0" />
        <parent link="Link2_2" />
        <child link="Link2_3" />
        <axis xyz="0 0 1" />
        <dynamics damping="0.1" friction="0.8" />
        <limit effort="300" lower="-2.530727415391778" upper="2.530727415391778" velocity="10" />
    </joint>
    <link name="Link2_4">
        <inertial>
            <origin rpy="0 0 0" xyz="0.005438 0.000120 0.134002" />
            <mass value="0.376" />
            <inertia ixx="0.0001484574" ixy="0" ixz="0.000099045" iyy="0.001658464" iyz="-0.000002871" izz="0.000360737" />
        </inertial>
        <visual>
            <origin rpy="0 0 0" xyz="0 0 0" />
            <geometry>
                <mesh filename="package://robot_description/meshes/Link_4.STL" />
            </geometry>
            <material name="">
                <color rgba="1 1 1 1" />
            </material>
        </visual>
        <collision>
            <origin rpy="0 0 0" xyz="0 0 0" />
            <geometry>
                <mesh filename="package://robot_description/meshes/Link_4.STL" />
            </geometry>
        </collision>
    </link>
    <joint name="Joint2_4" type="revolute">
        <origin rpy="0 -1.5707963267948966 -3.141592653589793" xyz="0.1745 0 0" />
        <parent link="Link2_3" />
        <child link="Link2_4" />
        <axis xyz="0 0 1" />
        <dynamics damping="0.1" friction="0.8" />
        <limit effort="100" lower="-3.141592653589793" upper="3.141592653589793" velocity="10" />
    </joint>
    <link name="Link2_5">
        <inertial>
            <origin rpy="0 0 0" xyz="0.058277 0 -0.001068" />
            <mass value="0.327" />
            <inertia ixx="0.000412080" ixy="0" ixz="0.000002889" iyy="0.000943104" iyz="0" izz="0.000708641" />
        </inertial>
        <visual>
            <origin rpy="0 0 0" xyz="0 0 0" />
            <geometry>
                <mesh filename="package://robot_description/meshes/Link_5.STL" />
            </geometry>
            <material name="">
                <color rgba="1 1 1 1" />
            </material>
        </visual>
        <collision>
            <origin rpy="0 0 0" xyz="0 0 0" />
            <geometry>
                <mesh filename="package://robot_description/meshes/Link_5.STL" />
            </geometry>
        </collision>
    </link>
    <joint name="Joint2_5" type="revolute">
        <origin rpy="3.141592653589793 -1.5707963267948966 0" xyz="0 0 0.1795" />
        <parent link="Link2_4" />
        <child link="Link2_5" />
        <axis xyz="0 0 1" />
        <dynamics damping="0.1" friction="0.8" />
        <limit effort="100" lower="-1.9198621771937623" upper="1.9198621771937623" velocity="10" />
    </joint>
    <link name="Link2_6">
        <inertial>
            <origin rpy="0 0 0" xyz="-0.000076 -0.001467 0.088450" />
            <mass value="0.366" />
            <inertia ixx="0.000945510" ixy="-0.000011196" ixz="0" iyy="0.000811306" iyz="-0.000011704" izz="0.000402389" />
        </inertial>
        <visual>
            <origin rpy="0 0 0" xyz="0 0 0" />
            <geometry>
                <mesh filename="package://robot_description/meshes/Link_6.STL" />
            </geometry>
            <material name="">
                <color rgba="1 1 1 1" />
            </material>
        </visual>
        <collision>
            <origin rpy="0 0 0" xyz="0 0 0" />
            <geometry>
                <mesh filename="package://robot_description/meshes/Link_6.STL" />
            </geometry>
        </collision>
    </link>
    <joint name="Joint2_6" type="revolute">
        <origin rpy="3.141592653589793 -1.5707963267948966 0" xyz="0.141 0 0" />
        <parent link="Link2_5" />
        <child link="Link2_6" />
        <axis xyz="0 0 1" />
        <dynamics damping="0.1" friction="0.8" />
        <limit effort="100" lower="-3.141592653589793" upper="3.141592653589793" velocity="10" />
    </joint>
    <joint name="Joint2_hand" type="fixed">
        <parent link="Link2_6" />
        <child link="Link2_robotiq_arg2f_base_link" />
        <origin rpy="0 0 0" xyz="0 0 0.0385" />
    </joint>
    <transmission name="Link2_finger_joint_trans">
        <type>transmission_interface/SimpleTransmission</type>
        <joint name="Link2_finger_joint">
            <hardwareInterface>hardware_interface/EffortJointInterface</hardwareInterface>
        </joint>
        <actuator name="Link2_finger_joint_motor">
            <mechanicalReduction>1</mechanicalReduction>
            <hardwareInterface>hardware_interface/EffortJointInterface</hardwareInterface>
        </actuator>
    </transmission>
    <!-- base link -->
    <link name="Link2_robotiq_arg2f_base_link">
        <inertial>
            <origin rpy="0 0 0" xyz="8.625E-08 -4.6583E-06 0.03145" />
            <mass value="0.22652" />
            <inertia ixx="0.00020005" ixy="-4.2442E-10" ixz="-2.9069E-10" iyy="0.00017832" iyz="-3.4402E-08" izz="0.00013478" />
        </inertial>
        <visual>
            <origin rpy="0 0 0" xyz="0 0 0" />
            <geometry>
                <mesh filename="package://robotiq_2f_85_gripper_visualization/meshes/visual/robotiq_arg2f_base_link.stl" />
            </geometry>
            <material name="">
                <color rgba="0.1 0.1 0.1 1" />
            </material>
        </visual>
        <collision>
            <origin rpy="0 0 0" xyz="0 0 0" />
            <!-- <geometry><sphere radius="0.04" /></geometry> -->
            <geometry>
                <mesh filename="package://robotiq_2f_85_gripper_visualization/meshes/collision/robotiq_arg2f_base_link.stl" />
            </geometry>
            <surface>
                <friction>
                    <torsional>
                        <coefficient>5.0</coefficient>
                        <surface_radius>0.01</surface_radius>
                        <use_patch_radius>false</use_patch_radius>
                    </torsional>
                </friction>
            </surface>
        </collision>
    </link>
    <link name="Link2_left_outer_knuckle">
        <inertial>
            <origin rpy="0 0 0" xyz="-0.000200000000003065 0.0199435877845359 0.0292245259211331" />
            <mass value="0.00853198276973456" />
            <inertia ixx="2.89328108496468E-06" ixy="-1.57935047237397E-19" ixz="-1.93980378593255E-19" iyy="1.86719750325683E-06" iyz="-1.21858577871576E-06" izz="1.21905238907251E-06" />
        </inertial>
        <visual>
            <origin rpy="0 0 0" xyz="0 0 0" />
            <geometry>
                <mesh filename="package://robotiq_2f_85_gripper_visualization/meshes/visual/robotiq_arg2f_85_outer_knuckle.dae" scale="0.001 0.001 0.001" />
            </geometry>
            <material name="">
                <color rgba="0.792156862745098 0.819607843137255 0.933333333333333 1" />
            </material>
        </visual>
        <collision>
            <origin rpy="0 0 0" xyz="0 0 0" />
            <geometry>
                <mesh filename="package://robotiq_2f_85_gripper_visualization/meshes/collision/robotiq_arg2f_85_outer_knuckle.dae" scale="0.001 0.001 0.001" />
            </geometry>
        </collision>
    </link>
    <link name="Link2_left_outer_finger">
        <inertial>
            <origin rpy="0 0 0" xyz="0.00030115855001899 0.0373907951953854 -0.0208027427000385" />
            <mass value="0.022614240507152" />
            <inertia ixx="1.52518312458174E-05" ixy="9.76583423954399E-10" ixz="-5.43838577022588E-10" iyy="6.17694243867776E-06" iyz="6.78636130740228E-06" izz="1.16494917907219E-05" />
        </inertial>
        <visual>
            <origin rpy="0 0 0" xyz="0 0 0" />
            <geometry>
                <mesh filename="package://robotiq_2f_85_gripper_visualization/meshes/visual/robotiq_arg2f_85_outer_finger.dae" scale="0.001 0.001 0.001" />
            </geometry>
            <material name="">
                <color rgba="0.1 0.1 0.1 1" />
            </material>
        </visual>
        <collision>
            <origin rpy="0 0 0" xyz="0 0 0" />
            <geometry>
                <mesh filename="package://robotiq_2f_85_gripper_visualization/meshes/collision/robotiq_arg2f_85_outer_finger.dae" scale="0.001 0.001 0.001" />
            </geometry>
        </collision>
    </link>
    <link name="Link2_left_inner_finger">
        <inertial>
            <origin rpy="0 0 0" xyz="0.000299999999999317 0.0160078233491243 -0.0136945669206257" />
            <mass value="0.0104003125914103" />
            <inertia ixx="2.71909453810972E-06" ixy="1.35402465472579E-21" ixz="-7.1817349065269E-22" iyy="7.69100314106116E-07" iyz="6.74715432769696E-07" izz="2.30315190420171E-06" />
        </inertial>
        <visual>
            <origin rpy="0 0 0" xyz="0 0 0" />
            <geometry>
                <mesh filename="package://robotiq_2f_85_gripper_visualization/meshes/visual/robotiq_arg2f_85_inner_finger.dae" scale="0.001 0.001 0.001" />
            </geometry>
            <material name="">
                <color rgba="0.1 0.1 0.1 1" />
            </material>
        </visual>
        <collision>
            <origin rpy="0 0 0" xyz="0 0 0" />
            <geometry>
                <mesh filename="package://robotiq_2f_85_gripper_visualization/meshes/collision/robotiq_arg2f_85_inner_finger.dae" scale="0.001 0.001 0.001" />
            </geometry>
        </collision>
    </link>
    <link name="Link2_left_inner_finger_pad">
        <visual>
            <origin rpy="0 0 0" xyz="0 0 0" />
            <geometry>
                <box size="0.022 0.00635 0.0375" />
            </geometry>
            <material name="">
                <color rgba="0.9 0.9 0.9 1" />
            </material>
        </visual>
        <collision>
            <origin rpy="0 0 0" xyz="0 0 0" />
            <geometry>
                <box size="0.022 0.00635 0.0375" />
            </geometry>
            <material name="">
                <color rgba="0.9 0.0 0.0 1" />
            </material>
        </collision>
        <inertial>
            <mass value="0.1" />
            <origin xyz="0 0 0" rpy="0 0 0" />
            <inertia ixx="0.03" iyy="0.03" izz="0.03" ixy="0.0" ixz="0.0" iyz="0.0" />
        </inertial>
    </link>
    <link name="Link2_left_inner_knuckle">
        <inertial>
            <origin rpy="0 0 0" xyz="0.000123011831763771 0.0507850843201817 0.00103968640075166" />
            <mass value="0.0271177346495152" />
            <inertia ixx="2.61910379223783E-05" ixy="-2.43616858946494E-07" ixz="-6.37789906117123E-09" iyy="2.8270243746167E-06" iyz="-5.37200748039765E-07" izz="2.83695868220296E-05" />
        </inertial>
        <visual>
            <origin rpy="0 0 0" xyz="0 0 0" />
            <geometry>
                <mesh filename="package://robotiq_2f_85_gripper_visualization/meshes/visual/robotiq_arg2f_85_inner_knuckle.dae" scale="0.001 0.001 0.001" />
            </geometry>
            <material name="">
                <color rgba="0.1 0.1 0.1 1" />
            </material>
        </visual>
        <collision>
            <origin rpy="0 0 0" xyz="0 0 0" />
            <geometry>
                <mesh filename="package://robotiq_2f_85_gripper_visualization/meshes/collision/robotiq_arg2f_85_inner_knuckle.dae" scale="0.001 0.001 0.001" />
            </geometry>
        </collision>
    </link>
    <joint name="Link2_left_outer_finger_joint" type="fixed">
        <origin rpy="0 0 0" xyz="0 0.0315 -0.0041" />
        <parent link="Link2_left_outer_knuckle" />
        <child link="Link2_left_outer_finger" />
        <axis xyz="1 0 0" />
    </joint>
    <joint name="Link2_left_inner_knuckle_joint" type="revolute">
        <!-- <origin xyz="0 ${reflect * -0.0127} 0.06142" rpy="${pi / 2 + .725} 0 ${(reflect - 1) * pi / 2}" /> -->
        <origin rpy="0 0 3.141592653589793" xyz="0 -0.0127 0.06142" />
        <parent link="Link2_robotiq_arg2f_base_link" />
        <child link="Link2_left_inner_knuckle" />
        <axis xyz="1 0 0" />
        <limit effort="1000" lower="0" upper="0.8757" velocity="0.5" />
        <mimic joint="Link2_finger_joint" multiplier="1" offset="0" />
    </joint>
    <joint name="Link2_left_inner_finger_joint" type="revolute">
        <origin rpy="0 0 0" xyz="0 0.0061 0.0471" />
        <parent link="Link2_left_outer_finger" />
        <child link="Link2_left_inner_finger" />
        <axis xyz="1 0 0" />
        <limit effort="1000" lower="-0.8757" upper="0" velocity="0.5" />
        <mimic joint="Link2_finger_joint" multiplier="-1" offset="0" />
    </joint>
    <joint name="Link2_left_inner_finger_pad_joint" type="fixed">
        <origin rpy="0 0 0" xyz="0 -0.0220203446692936 0.03242" />
        <parent link="Link2_left_inner_finger" />
        <child link="Link2_left_inner_finger_pad" />
        <axis xyz="0 0 1" />
    </joint>
    <joint name="Link2_finger_joint" type="revolute">
        <origin rpy="0 0 3.141592653589793" xyz="0 -0.0306011 0.054904" />
        <parent link="Link2_robotiq_arg2f_base_link" />
        <child link="Link2_left_outer_knuckle" />
        <axis xyz="1 0 0" />
        <limit effort="1000" lower="0" upper="0.8" velocity="0.5" />
    </joint>
    <joint name="Link2_right_outer_finger_joint" type="fixed">
        <origin rpy="0 0 0" xyz="0 0.0315 -0.0041" />
        <parent link="Link2_right_outer_knuckle" />
        <child link="Link2_right_outer_finger" />
        <axis xyz="1 0 0" />
    </joint>
    <joint name="Link2_right_inner_knuckle_joint" type="revolute">
        <!-- <origin xyz="0 ${reflect * -0.0127} 0.06142" rpy="${pi / 2 + .725} 0 ${(reflect - 1) * pi / 2}" /> -->
        <origin rpy="0 0 0.0" xyz="0 0.0127 0.06142" />
        <parent link="Link2_robotiq_arg2f_base_link" />
        <child link="Link2_right_inner_knuckle" />
        <axis xyz="1 0 0" />
        <limit effort="1000" lower="0" upper="0.8757" velocity="0.5" />
        <mimic joint="Link2_finger_joint" multiplier="1" offset="0" />
    </joint>
    <joint name="Link2_right_inner_finger_joint" type="revolute">
        <origin rpy="0 0 0" xyz="0 0.0061 0.0471" />
        <parent link="Link2_right_outer_finger" />
        <child link="Link2_right_inner_finger" />
        <axis xyz="1 0 0" />
        <limit effort="1000" lower="-0.8757" upper="0" velocity="0.5" />
        <mimic joint="Link2_finger_joint" multiplier="-1" offset="0" />
    </joint>
    <joint name="Link2_right_inner_finger_pad_joint" type="fixed">
        <origin rpy="0 0 0" xyz="0 -0.0220203446692936 0.03242" />
        <parent link="Link2_right_inner_finger" />
        <child link="Link2_right_inner_finger_pad" />
        <axis xyz="0 0 1" />
    </joint>
    <link name="Link2_right_outer_knuckle">
        <inertial>
            <origin rpy="0 0 0" xyz="-0.000200000000003065 0.0199435877845359 0.0292245259211331" />
            <mass value="0.00853198276973456" />
            <inertia ixx="2.89328108496468E-06" ixy="-1.57935047237397E-19" ixz="-1.93980378593255E-19" iyy="1.86719750325683E-06" iyz="-1.21858577871576E-06" izz="1.21905238907251E-06" />
        </inertial>
        <visual>
            <origin rpy="0 0 0" xyz="0 0 0" />
            <geometry>
                <mesh filename="package://robotiq_2f_85_gripper_visualization/meshes/visual/robotiq_arg2f_85_outer_knuckle.dae" scale="0.001 0.001 0.001" />
            </geometry>
            <material name="">
                <color rgba="0.792156862745098 0.819607843137255 0.933333333333333 1" />
            </material>
        </visual>
        <collision>
            <origin rpy="0 0 0" xyz="0 0 0" />
            <geometry>
                <mesh filename="package://robotiq_2f_85_gripper_visualization/meshes/collision/robotiq_arg2f_85_outer_knuckle.dae" scale="0.001 0.001 0.001" />
            </geometry>
        </collision>
    </link>
    <link name="Link2_right_outer_finger">
        <inertial>
            <origin rpy="0 0 0" xyz="0.00030115855001899 0.0373907951953854 -0.0208027427000385" />
            <mass value="0.022614240507152" />
            <inertia ixx="1.52518312458174E-05" ixy="9.76583423954399E-10" ixz="-5.43838577022588E-10" iyy="6.17694243867776E-06" iyz="6.78636130740228E-06" izz="1.16494917907219E-05" />
        </inertial>
        <visual>
            <origin rpy="0 0 0" xyz="0 0 0" />
            <geometry>
                <mesh filename="package://robotiq_2f_85_gripper_visualization/meshes/visual/robotiq_arg2f_85_outer_finger.dae" scale="0.001 0.001 0.001" />
            </geometry>
            <material name="">
                <color rgba="0.1 0.1 0.1 1" />
            </material>
        </visual>
        <collision>
            <origin rpy="0 0 0" xyz="0 0 0" />
            <geometry>
                <mesh filename="package://robotiq_2f_85_gripper_visualization/meshes/collision/robotiq_arg2f_85_outer_finger.dae" scale="0.001 0.001 0.001" />
            </geometry>
        </collision>
    </link>
    <link name="Link2_right_inner_finger">
        <inertial>
            <origin rpy="0 0 0" xyz="0.000299999999999317 0.0160078233491243 -0.0136945669206257" />
            <mass value="0.0104003125914103" />
            <inertia ixx="2.71909453810972E-06" ixy="1.35402465472579E-21" ixz="-7.1817349065269E-22" iyy="7.69100314106116E-07" iyz="6.74715432769696E-07" izz="2.30315190420171E-06" />
        </inertial>
        <visual>
            <origin rpy="0 0 0" xyz="0 0 0" />
            <geometry>
                <mesh filename="package://robotiq_2f_85_gripper_visualization/meshes/visual/robotiq_arg2f_85_inner_finger.dae" scale="0.001 0.001 0.001" />
            </geometry>
            <material name="">
                <color rgba="0.1 0.1 0.1 1" />
            </material>
        </visual>
        <collision>
            <origin rpy="0 0 0" xyz="0 0 0" />
            <geometry>
                <mesh filename="package://robotiq_2f_85_gripper_visualization/meshes/collision/robotiq_arg2f_85_inner_finger.dae" scale="0.001 0.001 0.001" />
            </geometry>
        </collision>
    </link>
    <link name="Link2_right_inner_finger_pad">
        <visual>
            <origin rpy="0 0 0" xyz="0 0 0" />
            <geometry>
                <box size="0.022 0.00635 0.0375" />
            </geometry>
            <material name="">
                <color rgba="0.9 0.9 0.9 1" />
            </material>
        </visual>
        <collision>
            <origin rpy="0 0 0" xyz="0 0 0" />
            <geometry>
                <box size="0.022 0.00635 0.0375" />
            </geometry>
            <material name="">
                <color rgba="0.9 0.0 0.0 1" />
            </material>
        </collision>
        <inertial>
            <mass value="0.1" />
            <origin xyz="0 0 0" rpy="0 0 0" />
            <inertia ixx="0.03" iyy="0.03" izz="0.03" ixy="0.0" ixz="0.0" iyz="0.0" />
        </inertial>
    </link>
    <link name="Link2_right_inner_knuckle">
        <inertial>
            <origin rpy="0 0 0" xyz="0.000123011831763771 0.0507850843201817 0.00103968640075166" />
            <mass value="0.0271177346495152" />
            <inertia ixx="2.61910379223783E-05" ixy="-2.43616858946494E-07" ixz="-6.37789906117123E-09" iyy="2.8270243746167E-06" iyz="-5.37200748039765E-07" izz="2.83695868220296E-05" />
        </inertial>
        <visual>
            <origin rpy="0 0 0" xyz="0 0 0" />
            <geometry>
                <mesh filename="package://robotiq_2f_85_gripper_visualization/meshes/visual/robotiq_arg2f_85_inner_knuckle.dae" scale="0.001 0.001 0.001" />
            </geometry>
            <material name="">
                <color rgba="0.1 0.1 0.1 1" />
            </material>
        </visual>
        <collision>
            <origin rpy="0 0 0" xyz="0 0 0" />
            <geometry>
                <mesh filename="package://robotiq_2f_85_gripper_visualization/meshes/collision/robotiq_arg2f_85_inner_knuckle.dae" scale="0.001 0.001 0.001" />
            </geometry>
        </collision>
    </link>
    <joint name="Link2_right_finger_joint" type="revolute">
        <origin rpy="0 0 0" xyz="0 0.0306011 0.054904" />
        <parent link="Link2_robotiq_arg2f_base_link" />
        <child link="Link2_right_outer_knuckle" />
        <axis xyz="1 0 0" />
        <limit effort="1000" lower="0" upper="0.81" velocity="0.5" />
        <mimic joint="Link2_finger_joint" multiplier="1" offset="0" />
    </joint>
    <link name="Link3_0">
        <inertial>
            <origin rpy="0 0 0" xyz="0.085427 -0.025518 0" />
            <mass value="0.960" />
            <inertia ixx="0.000648473" ixy="-0.001018876" ixz="0.000012959" iyy="0.002674366" iyz="0" izz="0.003031056" />
        </inertial>
        <visual>
            <origin rpy="0 0 0" xyz="0 0 0" />
            <geometry>
                <mesh filename="package://robot_description/meshes/Link_0.STL" />
            </geometry>
            <material name="">
                <color rgba="0 1 1 1" />
            </material>
        </visual>
        <collision>
            <origin rpy="0 0 0" xyz="0 0 0" />
            <geometry>
                <mesh filename="package://robot_description/meshes/Link_0.STL" />
            </geometry>
        </collision>
    </link>
    <joint name="Joint3_0" type="revolute">
        <origin rpy="1.5707963267948966 0 3.9269908169872414" xyz="-0.072125 -0.072125 0.018" />
        <parent link="base_link" />
        <child link="Link3_0" />
        <axis xyz="0 0 1" />
        <dynamics damping="0.1" friction="0.8" />
        <limit effort="1000" lower="0" upper="1.5707963267948966" velocity="10" />
    </joint>
    <link name="Link3_1">
        <inertial>
            <origin rpy="0 0 0" xyz="0.052469 -0.009040 0.002060" />
            <mass value="0.914" />
            <inertia ixx="0.000671687" ixy="-0.000084224" ixz="-0.000107815" iyy="0.000786758" iyz="0.000017298" izz="0.000958254" />
        </inertial>
        <visual>
            <origin rpy="0 0 0" xyz="0 0 0" />
            <geometry>
                <mesh filename="package://robot_description/meshes/Link_1.STL" />
            </geometry>
            <material name="">
                <color rgba="1 1 1 1" />
            </material>
        </visual>
        <collision>
            <origin rpy="0 0 0" xyz="0 0 0" />
            <geometry>
                <mesh filename="package://robot_description/meshes/Link_1.STL" />
            </geometry>
        </collision>
    </link>
    <joint name="Joint3_1" type="revolute">
        <origin rpy="-1.5707963267948966 0 0" xyz="0.12 -0.117 0" />
        <parent link="Link3_0" />
        <child link="Link3_1" />
        <axis xyz="0 0 1" />
        <dynamics damping="0.1" friction="0.8" />
        <limit effort="300" lower="-2.356194490192345" upper="4.71238898038469" velocity="10" />
    </joint>
    <link name="Link3_2">
        <inertial>
            <origin rpy="0 0 0" xyz="0.273270 0.000006 0.007530" />
            <mass value="1.144" />
            <inertia ixx="0.000909959" ixy="0" ixz="0.000569994" iyy="0.018834040" iyz="0" izz="0.018336908" />
        </inertial>
        <visual>
            <origin rpy="0 0 0" xyz="0 0 0" />
            <geometry>
                <mesh filename="package://robot_description/meshes/Link_2.STL" />
            </geometry>
            <material name="">
                <color rgba="1 1 1 1" />
            </material>
        </visual>
        <collision>
            <origin rpy="0 0 0" xyz="0 0 0" />
            <geometry>
                <mesh filename="package://robot_description/meshes/Link_2.STL" />
            </geometry>
        </collision>
    </link>
    <joint name="Joint3_2" type="revolute">
        <origin rpy="1.5707963267948966 0 0" xyz="0.0625 -0.0025 0" />
        <parent link="Link3_1" />
        <child link="Link3_2" />
        <axis xyz="0 0 1" />
        <dynamics damping="0.1" friction="0.8" />
        <limit effort="300" lower="-2.0943951023931953" upper="1.5707963267948966" velocity="10" />
    </joint>
    <link name="Link3_3">
        <inertial>
            <origin rpy="0 0 0" xyz="0.081336 -0.0003 -0.000693" />
            <mass value="0.395" />
            <inertia ixx="0.000576423" ixy="0" ixz="0.000031283" iyy="0.001662107" iyz="0" izz="0.001334389" />
        </inertial>
        <visual>
            <origin rpy="0 0 0" xyz="0 0 0" />
            <geometry>
                <mesh filename="package://robot_description/meshes/Link_3.STL" />
            </geometry>
            <material name="">
                <color rgba="1 1 1 1" />
            </material>
        </visual>
        <collision>
            <origin rpy="0 0 0" xyz="0 0 0" />
            <geometry>
                <mesh filename="package://robot_description/meshes/Link_3.STL" />
            </geometry>
        </collision>
    </link>
    <joint name="Joint3_3" type="revolute">
        <origin rpy="-3.141592653589793 0 0" xyz="0.35 0.0002 0" />
        <parent link="Link3_2" />
        <child link="Link3_3" />
        <axis xyz="0 0 1" />
        <dynamics damping="0.1" friction="0.8" />
        <limit effort="300" lower="-2.530727415391778" upper="2.530727415391778" velocity="10" />
    </joint>
    <link name="Link3_4">
        <inertial>
            <origin rpy="0 0 0" xyz="0.005438 0.000120 0.134002" />
            <mass value="0.376" />
            <inertia ixx="0.0001484574" ixy="0" ixz="0.000099045" iyy="0.001658464" iyz="-0.000002871" izz="0.000360737" />
        </inertial>
        <visual>
            <origin rpy="0 0 0" xyz="0 0 0" />
            <geometry>
                <mesh filename="package://robot_description/meshes/Link_4.STL" />
            </geometry>
            <material name="">
                <color rgba="1 1 1 1" />
            </material>
        </visual>
        <collision>
            <origin rpy="0 0 0" xyz="0 0 0" />
            <geometry>
                <mesh filename="package://robot_description/meshes/Link_4.STL" />
            </geometry>
        </collision>
    </link>
    <joint name="Joint3_4" type="revolute">
        <origin rpy="0 -1.5707963267948966 -3.141592653589793" xyz="0.1745 0 0" />
        <parent link="Link3_3" />
        <child link="Link3_4" />
        <axis xyz="0 0 1" />
        <dynamics damping="0.1" friction="0.8" />
        <limit effort="100" lower="-3.141592653589793" upper="3.141592653589793" velocity="10" />
    </joint>
    <link name="Link3_5">
        <inertial>
            <origin rpy="0 0 0" xyz="0.058277 0 -0.001068" />
            <mass value="0.327" />
            <inertia ixx="0.000412080" ixy="0" ixz="0.000002889" iyy="0.000943104" iyz="0" izz="0.000708641" />
        </inertial>
        <visual>
            <origin rpy="0 0 0" xyz="0 0 0" />
            <geometry>
                <mesh filename="package://robot_description/meshes/Link_5.STL" />
            </geometry>
            <material name="">
                <color rgba="1 1 1 1" />
            </material>
        </visual>
        <collision>
            <origin rpy="0 0 0" xyz="0 0 0" />
            <geometry>
                <mesh filename="package://robot_description/meshes/Link_5.STL" />
            </geometry>
        </collision>
    </link>
    <joint name="Joint3_5" type="revolute">
        <origin rpy="3.141592653589793 -1.5707963267948966 0" xyz="0 0 0.1795" />
        <parent link="Link3_4" />
        <child link="Link3_5" />
        <axis xyz="0 0 1" />
        <dynamics damping="0.1" friction="0.8" />
        <limit effort="100" lower="-1.9198621771937623" upper="1.9198621771937623" velocity="10" />
    </joint>
    <link name="Link3_6">
        <inertial>
            <origin rpy="0 0 0" xyz="-0.000076 -0.001467 0.088450" />
            <mass value="0.366" />
            <inertia ixx="0.000945510" ixy="-0.000011196" ixz="0" iyy="0.000811306" iyz="-0.000011704" izz="0.000402389" />
        </inertial>
        <visual>
            <origin rpy="0 0 0" xyz="0 0 0" />
            <geometry>
                <mesh filename="package://robot_description/meshes/Link_6.STL" />
            </geometry>
            <material name="">
                <color rgba="1 1 1 1" />
            </material>
        </visual>
        <collision>
            <origin rpy="0 0 0" xyz="0 0 0" />
            <geometry>
                <mesh filename="package://robot_description/meshes/Link_6.STL" />
            </geometry>
        </collision>
    </link>
    <joint name="Joint3_6" type="revolute">
        <origin rpy="3.141592653589793 -1.5707963267948966 0" xyz="0.141 0 0" />
        <parent link="Link3_5" />
        <child link="Link3_6" />
        <axis xyz="0 0 1" />
        <dynamics damping="0.1" friction="0.8" />
        <limit effort="100" lower="-3.141592653589793" upper="3.141592653589793" velocity="10" />
    </joint>
    <joint name="Joint3_hand" type="fixed">
        <parent link="Link3_6" />
        <child link="Link3_robotiq_arg2f_base_link" />
        <origin rpy="0 0 0" xyz="0 0 0.0385" />
    </joint>
    <transmission name="Link3_finger_joint_trans">
        <type>transmission_interface/SimpleTransmission</type>
        <joint name="Link3_finger_joint">
            <hardwareInterface>hardware_interface/EffortJointInterface</hardwareInterface>
        </joint>
        <actuator name="Link3_finger_joint_motor">
            <mechanicalReduction>1</mechanicalReduction>
            <hardwareInterface>hardware_interface/EffortJointInterface</hardwareInterface>
        </actuator>
    </transmission>
    <!-- base link -->
    <link name="Link3_robotiq_arg2f_base_link">
        <inertial>
            <origin rpy="0 0 0" xyz="8.625E-08 -4.6583E-06 0.03145" />
            <mass value="0.22652" />
            <inertia ixx="0.00020005" ixy="-4.2442E-10" ixz="-2.9069E-10" iyy="0.00017832" iyz="-3.4402E-08" izz="0.00013478" />
        </inertial>
        <visual>
            <origin rpy="0 0 0" xyz="0 0 0" />
            <geometry>
                <mesh filename="package://robotiq_2f_85_gripper_visualization/meshes/visual/robotiq_arg2f_base_link.stl" />
            </geometry>
            <material name="">
                <color rgba="0.1 0.1 0.1 1" />
            </material>
        </visual>
        <collision>
            <origin rpy="0 0 0" xyz="0 0 0" />
            <!-- <geometry><sphere radius="0.04" /></geometry> -->
            <geometry>
                <mesh filename="package://robotiq_2f_85_gripper_visualization/meshes/collision/robotiq_arg2f_base_link.stl" />
            </geometry>
            <surface>
                <friction>
                    <torsional>
                        <coefficient>5.0</coefficient>
                        <surface_radius>0.01</surface_radius>
                        <use_patch_radius>false</use_patch_radius>
                    </torsional>
                </friction>
            </surface>
        </collision>
    </link>
    <link name="Link3_left_outer_knuckle">
        <inertial>
            <origin rpy="0 0 0" xyz="-0.000200000000003065 0.0199435877845359 0.0292245259211331" />
            <mass value="0.00853198276973456" />
            <inertia ixx="2.89328108496468E-06" ixy="-1.57935047237397E-19" ixz="-1.93980378593255E-19" iyy="1.86719750325683E-06" iyz="-1.21858577871576E-06" izz="1.21905238907251E-06" />
        </inertial>
        <visual>
            <origin rpy="0 0 0" xyz="0 0 0" />
            <geometry>
                <mesh filename="package://robotiq_2f_85_gripper_visualization/meshes/visual/robotiq_arg2f_85_outer_knuckle.dae" scale="0.001 0.001 0.001" />
            </geometry>
            <material name="">
                <color rgba="0.792156862745098 0.819607843137255 0.933333333333333 1" />
            </material>
        </visual>
        <collision>
            <origin rpy="0 0 0" xyz="0 0 0" />
            <geometry>
                <mesh filename="package://robotiq_2f_85_gripper_visualization/meshes/collision/robotiq_arg2f_85_outer_knuckle.dae" scale="0.001 0.001 0.001" />
            </geometry>
        </collision>
    </link>
    <link name="Link3_left_outer_finger">
        <inertial>
            <origin rpy="0 0 0" xyz="0.00030115855001899 0.0373907951953854 -0.0208027427000385" />
            <mass value="0.022614240507152" />
            <inertia ixx="1.52518312458174E-05" ixy="9.76583423954399E-10" ixz="-5.43838577022588E-10" iyy="6.17694243867776E-06" iyz="6.78636130740228E-06" izz="1.16494917907219E-05" />
        </inertial>
        <visual>
            <origin rpy="0 0 0" xyz="0 0 0" />
            <geometry>
                <mesh filename="package://robotiq_2f_85_gripper_visualization/meshes/visual/robotiq_arg2f_85_outer_finger.dae" scale="0.001 0.001 0.001" />
            </geometry>
            <material name="">
                <color rgba="0.1 0.1 0.1 1" />
            </material>
        </visual>
        <collision>
            <origin rpy="0 0 0" xyz="0 0 0" />
            <geometry>
                <mesh filename="package://robotiq_2f_85_gripper_visualization/meshes/collision/robotiq_arg2f_85_outer_finger.dae" scale="0.001 0.001 0.001" />
            </geometry>
        </collision>
    </link>
    <link name="Link3_left_inner_finger">
        <inertial>
            <origin rpy="0 0 0" xyz="0.000299999999999317 0.0160078233491243 -0.0136945669206257" />
            <mass value="0.0104003125914103" />
            <inertia ixx="2.71909453810972E-06" ixy="1.35402465472579E-21" ixz="-7.1817349065269E-22" iyy="7.69100314106116E-07" iyz="6.74715432769696E-07" izz="2.30315190420171E-06" />
        </inertial>
        <visual>
            <origin rpy="0 0 0" xyz="0 0 0" />
            <geometry>
                <mesh filename="package://robotiq_2f_85_gripper_visualization/meshes/visual/robotiq_arg2f_85_inner_finger.dae" scale="0.001 0.001 0.001" />
            </geometry>
            <material name="">
                <color rgba="0.1 0.1 0.1 1" />
            </material>
        </visual>
        <collision>
            <origin rpy="0 0 0" xyz="0 0 0" />
            <geometry>
                <mesh filename="package://robotiq_2f_85_gripper_visualization/meshes/collision/robotiq_arg2f_85_inner_finger.dae" scale="0.001 0.001 0.001" />
            </geometry>
        </collision>
    </link>
    <link name="Link3_left_inner_finger_pad">
        <visual>
            <origin rpy="0 0 0" xyz="0 0 0" />
            <geometry>
                <box size="0.022 0.00635 0.0375" />
            </geometry>
            <material name="">
                <color rgba="0.9 0.9 0.9 1" />
            </material>
        </visual>
        <collision>
            <origin rpy="0 0 0" xyz="0 0 0" />
            <geometry>
                <box size="0.022 0.00635 0.0375" />
            </geometry>
            <material name="">
                <color rgba="0.9 0.0 0.0 1" />
            </material>
        </collision>
        <inertial>
            <mass value="0.1" />
            <origin xyz="0 0 0" rpy="0 0 0" />
            <inertia ixx="0.03" iyy="0.03" izz="0.03" ixy="0.0" ixz="0.0" iyz="0.0" />
        </inertial>
    </link>
    <link name="Link3_left_inner_knuckle">
        <inertial>
            <origin rpy="0 0 0" xyz="0.000123011831763771 0.0507850843201817 0.00103968640075166" />
            <mass value="0.0271177346495152" />
            <inertia ixx="2.61910379223783E-05" ixy="-2.43616858946494E-07" ixz="-6.37789906117123E-09" iyy="2.8270243746167E-06" iyz="-5.37200748039765E-07" izz="2.83695868220296E-05" />
        </inertial>
        <visual>
            <origin rpy="0 0 0" xyz="0 0 0" />
            <geometry>
                <mesh filename="package://robotiq_2f_85_gripper_visualization/meshes/visual/robotiq_arg2f_85_inner_knuckle.dae" scale="0.001 0.001 0.001" />
            </geometry>
            <material name="">
                <color rgba="0.1 0.1 0.1 1" />
            </material>
        </visual>
        <collision>
            <origin rpy="0 0 0" xyz="0 0 0" />
            <geometry>
                <mesh filename="package://robotiq_2f_85_gripper_visualization/meshes/collision/robotiq_arg2f_85_inner_knuckle.dae" scale="0.001 0.001 0.001" />
            </geometry>
        </collision>
    </link>
    <joint name="Link3_left_outer_finger_joint" type="fixed">
        <origin rpy="0 0 0" xyz="0 0.0315 -0.0041" />
        <parent link="Link3_left_outer_knuckle" />
        <child link="Link3_left_outer_finger" />
        <axis xyz="1 0 0" />
    </joint>
    <joint name="Link3_left_inner_knuckle_joint" type="revolute">
        <!-- <origin xyz="0 ${reflect * -0.0127} 0.06142" rpy="${pi / 2 + .725} 0 ${(reflect - 1) * pi / 2}" /> -->
        <origin rpy="0 0 3.141592653589793" xyz="0 -0.0127 0.06142" />
        <parent link="Link3_robotiq_arg2f_base_link" />
        <child link="Link3_left_inner_knuckle" />
        <axis xyz="1 0 0" />
        <limit effort="1000" lower="0" upper="0.8757" velocity="0.5" />
        <mimic joint="Link3_finger_joint" multiplier="1" offset="0" />
    </joint>
    <joint name="Link3_left_inner_finger_joint" type="revolute">
        <origin rpy="0 0 0" xyz="0 0.0061 0.0471" />
        <parent link="Link3_left_outer_finger" />
        <child link="Link3_left_inner_finger" />
        <axis xyz="1 0 0" />
        <limit effort="1000" lower="-0.8757" upper="0" velocity="0.5" />
        <mimic joint="Link3_finger_joint" multiplier="-1" offset="0" />
    </joint>
    <joint name="Link3_left_inner_finger_pad_joint" type="fixed">
        <origin rpy="0 0 0" xyz="0 -0.0220203446692936 0.03242" />
        <parent link="Link3_left_inner_finger" />
        <child link="Link3_left_inner_finger_pad" />
        <axis xyz="0 0 1" />
    </joint>
    <joint name="Link3_finger_joint" type="revolute">
        <origin rpy="0 0 3.141592653589793" xyz="0 -0.0306011 0.054904" />
        <parent link="Link3_robotiq_arg2f_base_link" />
        <child link="Link3_left_outer_knuckle" />
        <axis xyz="1 0 0" />
        <limit effort="1000" lower="0" upper="0.8" velocity="0.5" />
    </joint>
    <joint name="Link3_right_outer_finger_joint" type="fixed">
        <origin rpy="0 0 0" xyz="0 0.0315 -0.0041" />
        <parent link="Link3_right_outer_knuckle" />
        <child link="Link3_right_outer_finger" />
        <axis xyz="1 0 0" />
    </joint>
    <joint name="Link3_right_inner_knuckle_joint" type="revolute">
        <!-- <origin xyz="0 ${reflect * -0.0127} 0.06142" rpy="${pi / 2 + .725} 0 ${(reflect - 1) * pi / 2}" /> -->
        <origin rpy="0 0 0.0" xyz="0 0.0127 0.06142" />
        <parent link="Link3_robotiq_arg2f_base_link" />
        <child link="Link3_right_inner_knuckle" />
        <axis xyz="1 0 0" />
        <limit effort="1000" lower="0" upper="0.8757" velocity="0.5" />
        <mimic joint="Link3_finger_joint" multiplier="1" offset="0" />
    </joint>
    <joint name="Link3_right_inner_finger_joint" type="revolute">
        <origin rpy="0 0 0" xyz="0 0.0061 0.0471" />
        <parent link="Link3_right_outer_finger" />
        <child link="Link3_right_inner_finger" />
        <axis xyz="1 0 0" />
        <limit effort="1000" lower="-0.8757" upper="0" velocity="0.5" />
        <mimic joint="Link3_finger_joint" multiplier="-1" offset="0" />
    </joint>
    <joint name="Link3_right_inner_finger_pad_joint" type="fixed">
        <origin rpy="0 0 0" xyz="0 -0.0220203446692936 0.03242" />
        <parent link="Link3_right_inner_finger" />
        <child link="Link3_right_inner_finger_pad" />
        <axis xyz="0 0 1" />
    </joint>
    <link name="Link3_right_outer_knuckle">
        <inertial>
            <origin rpy="0 0 0" xyz="-0.000200000000003065 0.0199435877845359 0.0292245259211331" />
            <mass value="0.00853198276973456" />
            <inertia ixx="2.89328108496468E-06" ixy="-1.57935047237397E-19" ixz="-1.93980378593255E-19" iyy="1.86719750325683E-06" iyz="-1.21858577871576E-06" izz="1.21905238907251E-06" />
        </inertial>
        <visual>
            <origin rpy="0 0 0" xyz="0 0 0" />
            <geometry>
                <mesh filename="package://robotiq_2f_85_gripper_visualization/meshes/visual/robotiq_arg2f_85_outer_knuckle.dae" scale="0.001 0.001 0.001" />
            </geometry>
            <material name="">
                <color rgba="0.792156862745098 0.819607843137255 0.933333333333333 1" />
            </material>
        </visual>
        <collision>
            <origin rpy="0 0 0" xyz="0 0 0" />
            <geometry>
                <mesh filename="package://robotiq_2f_85_gripper_visualization/meshes/collision/robotiq_arg2f_85_outer_knuckle.dae" scale="0.001 0.001 0.001" />
            </geometry>
        </collision>
    </link>
    <link name="Link3_right_outer_finger">
        <inertial>
            <origin rpy="0 0 0" xyz="0.00030115855001899 0.0373907951953854 -0.0208027427000385" />
            <mass value="0.022614240507152" />
            <inertia ixx="1.52518312458174E-05" ixy="9.76583423954399E-10" ixz="-5.43838577022588E-10" iyy="6.17694243867776E-06" iyz="6.78636130740228E-06" izz="1.16494917907219E-05" />
        </inertial>
        <visual>
            <origin rpy="0 0 0" xyz="0 0 0" />
            <geometry>
                <mesh filename="package://robotiq_2f_85_gripper_visualization/meshes/visual/robotiq_arg2f_85_outer_finger.dae" scale="0.001 0.001 0.001" />
            </geometry>
            <material name="">
                <color rgba="0.1 0.1 0.1 1" />
            </material>
        </visual>
        <collision>
            <origin rpy="0 0 0" xyz="0 0 0" />
            <geometry>
                <mesh filename="package://robotiq_2f_85_gripper_visualization/meshes/collision/robotiq_arg2f_85_outer_finger.dae" scale="0.001 0.001 0.001" />
            </geometry>
        </collision>
    </link>
    <link name="Link3_right_inner_finger">
        <inertial>
            <origin rpy="0 0 0" xyz="0.000299999999999317 0.0160078233491243 -0.0136945669206257" />
            <mass value="0.0104003125914103" />
            <inertia ixx="2.71909453810972E-06" ixy="1.35402465472579E-21" ixz="-7.1817349065269E-22" iyy="7.69100314106116E-07" iyz="6.74715432769696E-07" izz="2.30315190420171E-06" />
        </inertial>
        <visual>
            <origin rpy="0 0 0" xyz="0 0 0" />
            <geometry>
                <mesh filename="package://robotiq_2f_85_gripper_visualization/meshes/visual/robotiq_arg2f_85_inner_finger.dae" scale="0.001 0.001 0.001" />
            </geometry>
            <material name="">
                <color rgba="0.1 0.1 0.1 1" />
            </material>
        </visual>
        <collision>
            <origin rpy="0 0 0" xyz="0 0 0" />
            <geometry>
                <mesh filename="package://robotiq_2f_85_gripper_visualization/meshes/collision/robotiq_arg2f_85_inner_finger.dae" scale="0.001 0.001 0.001" />
            </geometry>
        </collision>
    </link>
    <link name="Link3_right_inner_finger_pad">
        <visual>
            <origin rpy="0 0 0" xyz="0 0 0" />
            <geometry>
                <box size="0.022 0.00635 0.0375" />
            </geometry>
            <material name="">
                <color rgba="0.9 0.9 0.9 1" />
            </material>
        </visual>
        <collision>
            <origin rpy="0 0 0" xyz="0 0 0" />
            <geometry>
                <box size="0.022 0.00635 0.0375" />
            </geometry>
            <material name="">
                <color rgba="0.9 0.0 0.0 1" />
            </material>
        </collision>
        <inertial>
            <mass value="0.1" />
            <origin xyz="0 0 0" rpy="0 0 0" />
            <inertia ixx="0.03" iyy="0.03" izz="0.03" ixy="0.0" ixz="0.0" iyz="0.0" />
        </inertial>
    </link>
    <link name="Link3_right_inner_knuckle">
        <inertial>
            <origin rpy="0 0 0" xyz="0.000123011831763771 0.0507850843201817 0.00103968640075166" />
            <mass value="0.0271177346495152" />
            <inertia ixx="2.61910379223783E-05" ixy="-2.43616858946494E-07" ixz="-6.37789906117123E-09" iyy="2.8270243746167E-06" iyz="-5.37200748039765E-07" izz="2.83695868220296E-05" />
        </inertial>
        <visual>
            <origin rpy="0 0 0" xyz="0 0 0" />
            <geometry>
                <mesh filename="package://robotiq_2f_85_gripper_visualization/meshes/visual/robotiq_arg2f_85_inner_knuckle.dae" scale="0.001 0.001 0.001" />
            </geometry>
            <material name="">
                <color rgba="0.1 0.1 0.1 1" />
            </material>
        </visual>
        <collision>
            <origin rpy="0 0 0" xyz="0 0 0" />
            <geometry>
                <mesh filename="package://robotiq_2f_85_gripper_visualization/meshes/collision/robotiq_arg2f_85_inner_knuckle.dae" scale="0.001 0.001 0.001" />
            </geometry>
        </collision>
    </link>
    <joint name="Link3_right_finger_joint" type="revolute">
        <origin rpy="0 0 0" xyz="0 0.0306011 0.054904" />
        <parent link="Link3_robotiq_arg2f_base_link" />
        <child link="Link3_right_outer_knuckle" />
        <axis xyz="1 0 0" />
        <limit effort="1000" lower="0" upper="0.81" velocity="0.5" />
        <mimic joint="Link3_finger_joint" multiplier="1" offset="0" />
    </joint>
    <link name="Link4_0">
        <inertial>
            <origin rpy="0 0 0" xyz="0.085427 -0.025518 0" />
            <mass value="0.960" />
            <inertia ixx="0.000648473" ixy="-0.001018876" ixz="0.000012959" iyy="0.002674366" iyz="0" izz="0.003031056" />
        </inertial>
        <visual>
            <origin rpy="0 0 0" xyz="0 0 0" />
            <geometry>
                <mesh filename="package://robot_description/meshes/Link_0.STL" />
            </geometry>
            <material name="">
                <color rgba="0 1 1 1" />
            </material>
        </visual>
        <collision>
            <origin rpy="0 0 0" xyz="0 0 0" />
            <geometry>
                <mesh filename="package://robot_description/meshes/Link_0.STL" />
            </geometry>
        </collision>
    </link>
    <joint name="Joint4_0" type="revolute">
        <origin rpy="1.5707963267948966 0 5.497787143782138" xyz="0.072125 -0.072125 0.018" />
        <parent link="base_link" />
        <child link="Link4_0" />
        <axis xyz="0 0 1" />
        <dynamics damping="0.1" friction="0.8" />
        <limit effort="1000" lower="0" upper="1.5707963267948966" velocity="10" />
    </joint>
    <link name="Link4_1">
        <inertial>
            <origin rpy="0 0 0" xyz="0.052469 -0.009040 0.002060" />
            <mass value="0.914" />
            <inertia ixx="0.000671687" ixy="-0.000084224" ixz="-0.000107815" iyy="0.000786758" iyz="0.000017298" izz="0.000958254" />
        </inertial>
        <visual>
            <origin rpy="0 0 0" xyz="0 0 0" />
            <geometry>
                <mesh filename="package://robot_description/meshes/Link_1.STL" />
            </geometry>
            <material name="">
                <color rgba="1 1 1 1" />
            </material>
        </visual>
        <collision>
            <origin rpy="0 0 0" xyz="0 0 0" />
            <geometry>
                <mesh filename="package://robot_description/meshes/Link_1.STL" />
            </geometry>
        </collision>
    </link>
    <joint name="Joint4_1" type="revolute">
        <origin rpy="-1.5707963267948966 0 0" xyz="0.12 -0.117 0" />
        <parent link="Link4_0" />
        <child link="Link4_1" />
        <axis xyz="0 0 1" />
        <dynamics damping="0.1" friction="0.8" />
        <limit effort="300" lower="-2.356194490192345" upper="4.71238898038469" velocity="10" />
    </joint>
    <link name="Link4_2">
        <inertial>
            <origin rpy="0 0 0" xyz="0.273270 0.000006 0.007530" />
            <mass value="1.144" />
            <inertia ixx="0.000909959" ixy="0" ixz="0.000569994" iyy="0.018834040" iyz="0" izz="0.018336908" />
        </inertial>
        <visual>
            <origin rpy="0 0 0" xyz="0 0 0" />
            <geometry>
                <mesh filename="package://robot_description/meshes/Link_2.STL" />
            </geometry>
            <material name="">
                <color rgba="1 1 1 1" />
            </material>
        </visual>
        <collision>
            <origin rpy="0 0 0" xyz="0 0 0" />
            <geometry>
                <mesh filename="package://robot_description/meshes/Link_2.STL" />
            </geometry>
        </collision>
    </link>
    <joint name="Joint4_2" type="revolute">
        <origin rpy="1.5707963267948966 0 0" xyz="0.0625 -0.0025 0" />
        <parent link="Link4_1" />
        <child link="Link4_2" />
        <axis xyz="0 0 1" />
        <dynamics damping="0.1" friction="0.8" />
        <limit effort="300" lower="-2.0943951023931953" upper="1.5707963267948966" velocity="10" />
    </joint>
    <link name="Link4_3">
        <inertial>
            <origin rpy="0 0 0" xyz="0.081336 -0.0003 -0.000693" />
            <mass value="0.395" />
            <inertia ixx="0.000576423" ixy="0" ixz="0.000031283" iyy="0.001662107" iyz="0" izz="0.001334389" />
        </inertial>
        <visual>
            <origin rpy="0 0 0" xyz="0 0 0" />
            <geometry>
                <mesh filename="package://robot_description/meshes/Link_3.STL" />
            </geometry>
            <material name="">
                <color rgba="1 1 1 1" />
            </material>
        </visual>
        <collision>
            <origin rpy="0 0 0" xyz="0 0 0" />
            <geometry>
                <mesh filename="package://robot_description/meshes/Link_3.STL" />
            </geometry>
        </collision>
    </link>
    <joint name="Joint4_3" type="revolute">
        <origin rpy="-3.141592653589793 0 0" xyz="0.35 0.0002 0" />
        <parent link="Link4_2" />
        <child link="Link4_3" />
        <axis xyz="0 0 1" />
        <dynamics damping="0.1" friction="0.8" />
        <limit effort="300" lower="-2.530727415391778" upper="2.530727415391778" velocity="10" />
    </joint>
    <link name="Link4_4">
        <inertial>
            <origin rpy="0 0 0" xyz="0.005438 0.000120 0.134002" />
            <mass value="0.376" />
            <inertia ixx="0.0001484574" ixy="0" ixz="0.000099045" iyy="0.001658464" iyz="-0.000002871" izz="0.000360737" />
        </inertial>
        <visual>
            <origin rpy="0 0 0" xyz="0 0 0" />
            <geometry>
                <mesh filename="package://robot_description/meshes/Link_4.STL" />
            </geometry>
            <material name="">
                <color rgba="1 1 1 1" />
            </material>
        </visual>
        <collision>
            <origin rpy="0 0 0" xyz="0 0 0" />
            <geometry>
                <mesh filename="package://robot_description/meshes/Link_4.STL" />
            </geometry>
        </collision>
    </link>
    <joint name="Joint4_4" type="revolute">
        <origin rpy="0 -1.5707963267948966 -3.141592653589793" xyz="0.1745 0 0" />
        <parent link="Link4_3" />
        <child link="Link4_4" />
        <axis xyz="0 0 1" />
        <dynamics damping="0.1" friction="0.8" />
        <limit effort="100" lower="-3.141592653589793" upper="3.141592653589793" velocity="10" />
    </joint>
    <link name="Link4_5">
        <inertial>
            <origin rpy="0 0 0" xyz="0.058277 0 -0.001068" />
            <mass value="0.327" />
            <inertia ixx="0.000412080" ixy="0" ixz="0.000002889" iyy="0.000943104" iyz="0" izz="0.000708641" />
        </inertial>
        <visual>
            <origin rpy="0 0 0" xyz="0 0 0" />
            <geometry>
                <mesh filename="package://robot_description/meshes/Link_5.STL" />
            </geometry>
            <material name="">
                <color rgba="1 1 1 1" />
            </material>
        </visual>
        <collision>
            <origin rpy="0 0 0" xyz="0 0 0" />
            <geometry>
                <mesh filename="package://robot_description/meshes/Link_5.STL" />
            </geometry>
        </collision>
    </link>
    <joint name="Joint4_5" type="revolute">
        <origin rpy="3.141592653589793 -1.5707963267948966 0" xyz="0 0 0.1795" />
        <parent link="Link4_4" />
        <child link="Link4_5" />
        <axis xyz="0 0 1" />
        <dynamics damping="0.1" friction="0.8" />
        <limit effort="100" lower="-1.9198621771937623" upper="1.9198621771937623" velocity="10" />
    </joint>
    <link name="Link4_6">
        <inertial>
            <origin rpy="0 0 0" xyz="-0.000076 -0.001467 0.088450" />
            <mass value="0.366" />
            <inertia ixx="0.000945510" ixy="-0.000011196" ixz="0" iyy="0.000811306" iyz="-0.000011704" izz="0.000402389" />
        </inertial>
        <visual>
            <origin rpy="0 0 0" xyz="0 0 0" />
            <geometry>
                <mesh filename="package://robot_description/meshes/Link_6.STL" />
            </geometry>
            <material name="">
                <color rgba="1 1 1 1" />
            </material>
        </visual>
        <collision>
            <origin rpy="0 0 0" xyz="0 0 0" />
            <geometry>
                <mesh filename="package://robot_description/meshes/Link_6.STL" />
            </geometry>
        </collision>
    </link>
    <joint name="Joint4_6" type="revolute">
        <origin rpy="3.141592653589793 -1.5707963267948966 0" xyz="0.141 0 0" />
        <parent link="Link4_5" />
        <child link="Link4_6" />
        <axis xyz="0 0 1" />
        <dynamics damping="0.1" friction="0.8" />
        <limit effort="100" lower="-3.141592653589793" upper="3.141592653589793" velocity="10" />
    </joint>
    <joint name="Joint4_hand" type="fixed">
        <parent link="Link4_6" />
        <child link="Link4_robotiq_arg2f_base_link" />
        <origin rpy="0 0 0" xyz="0 0 0.0385" />
    </joint>
    <transmission name="Link4_finger_joint_trans">
        <type>transmission_interface/SimpleTransmission</type>
        <joint name="Link4_finger_joint">
            <hardwareInterface>hardware_interface/EffortJointInterface</hardwareInterface>
        </joint>
        <actuator name="Link4_finger_joint_motor">
            <mechanicalReduction>1</mechanicalReduction>
            <hardwareInterface>hardware_interface/EffortJointInterface</hardwareInterface>
        </actuator>
    </transmission>
    <!-- base link -->
    <link name="Link4_robotiq_arg2f_base_link">
        <inertial>
            <origin rpy="0 0 0" xyz="8.625E-08 -4.6583E-06 0.03145" />
            <mass value="0.22652" />
            <inertia ixx="0.00020005" ixy="-4.2442E-10" ixz="-2.9069E-10" iyy="0.00017832" iyz="-3.4402E-08" izz="0.00013478" />
        </inertial>
        <visual>
            <origin rpy="0 0 0" xyz="0 0 0" />
            <geometry>
                <mesh filename="package://robotiq_2f_85_gripper_visualization/meshes/visual/robotiq_arg2f_base_link.stl" />
            </geometry>
            <material name="">
                <color rgba="0.1 0.1 0.1 1" />
            </material>
        </visual>
        <collision>
            <origin rpy="0 0 0" xyz="0 0 0" />
            <!-- <geometry><sphere radius="0.04" /></geometry> -->
            <geometry>
                <mesh filename="package://robotiq_2f_85_gripper_visualization/meshes/collision/robotiq_arg2f_base_link.stl" />
            </geometry>
            <surface>
                <friction>
                    <torsional>
                        <coefficient>5.0</coefficient>
                        <surface_radius>0.01</surface_radius>
                        <use_patch_radius>false</use_patch_radius>
                    </torsional>
                </friction>
            </surface>
        </collision>
    </link>
    <link name="Link4_left_outer_knuckle">
        <inertial>
            <origin rpy="0 0 0" xyz="-0.000200000000003065 0.0199435877845359 0.0292245259211331" />
            <mass value="0.00853198276973456" />
            <inertia ixx="2.89328108496468E-06" ixy="-1.57935047237397E-19" ixz="-1.93980378593255E-19" iyy="1.86719750325683E-06" iyz="-1.21858577871576E-06" izz="1.21905238907251E-06" />
        </inertial>
        <visual>
            <origin rpy="0 0 0" xyz="0 0 0" />
            <geometry>
                <mesh filename="package://robotiq_2f_85_gripper_visualization/meshes/visual/robotiq_arg2f_85_outer_knuckle.dae" scale="0.001 0.001 0.001" />
            </geometry>
            <material name="">
                <color rgba="0.792156862745098 0.819607843137255 0.933333333333333 1" />
            </material>
        </visual>
        <collision>
            <origin rpy="0 0 0" xyz="0 0 0" />
            <geometry>
                <mesh filename="package://robotiq_2f_85_gripper_visualization/meshes/collision/robotiq_arg2f_85_outer_knuckle.dae" scale="0.001 0.001 0.001" />
            </geometry>
        </collision>
    </link>
    <link name="Link4_left_outer_finger">
        <inertial>
            <origin rpy="0 0 0" xyz="0.00030115855001899 0.0373907951953854 -0.0208027427000385" />
            <mass value="0.022614240507152" />
            <inertia ixx="1.52518312458174E-05" ixy="9.76583423954399E-10" ixz="-5.43838577022588E-10" iyy="6.17694243867776E-06" iyz="6.78636130740228E-06" izz="1.16494917907219E-05" />
        </inertial>
        <visual>
            <origin rpy="0 0 0" xyz="0 0 0" />
            <geometry>
                <mesh filename="package://robotiq_2f_85_gripper_visualization/meshes/visual/robotiq_arg2f_85_outer_finger.dae" scale="0.001 0.001 0.001" />
            </geometry>
            <material name="">
                <color rgba="0.1 0.1 0.1 1" />
            </material>
        </visual>
        <collision>
            <origin rpy="0 0 0" xyz="0 0 0" />
            <geometry>
                <mesh filename="package://robotiq_2f_85_gripper_visualization/meshes/collision/robotiq_arg2f_85_outer_finger.dae" scale="0.001 0.001 0.001" />
            </geometry>
        </collision>
    </link>
    <link name="Link4_left_inner_finger">
        <inertial>
            <origin rpy="0 0 0" xyz="0.000299999999999317 0.0160078233491243 -0.0136945669206257" />
            <mass value="0.0104003125914103" />
            <inertia ixx="2.71909453810972E-06" ixy="1.35402465472579E-21" ixz="-7.1817349065269E-22" iyy="7.69100314106116E-07" iyz="6.74715432769696E-07" izz="2.30315190420171E-06" />
        </inertial>
        <visual>
            <origin rpy="0 0 0" xyz="0 0 0" />
            <geometry>
                <mesh filename="package://robotiq_2f_85_gripper_visualization/meshes/visual/robotiq_arg2f_85_inner_finger.dae" scale="0.001 0.001 0.001" />
            </geometry>
            <material name="">
                <color rgba="0.1 0.1 0.1 1" />
            </material>
        </visual>
        <collision>
            <origin rpy="0 0 0" xyz="0 0 0" />
            <geometry>
                <mesh filename="package://robotiq_2f_85_gripper_visualization/meshes/collision/robotiq_arg2f_85_inner_finger.dae" scale="0.001 0.001 0.001" />
            </geometry>
        </collision>
    </link>
    <link name="Link4_left_inner_finger_pad">
        <visual>
            <origin rpy="0 0 0" xyz="0 0 0" />
            <geometry>
                <box size="0.022 0.00635 0.0375" />
            </geometry>
            <material name="">
                <color rgba="0.9 0.9 0.9 1" />
            </material>
        </visual>
        <collision>
            <origin rpy="0 0 0" xyz="0 0 0" />
            <geometry>
                <box size="0.022 0.00635 0.0375" />
            </geometry>
            <material name="">
                <color rgba="0.9 0.0 0.0 1" />
            </material>
        </collision>
        <inertial>
            <mass value="0.1" />
            <origin xyz="0 0 0" rpy="0 0 0" />
            <inertia ixx="0.03" iyy="0.03" izz="0.03" ixy="0.0" ixz="0.0" iyz="0.0" />
        </inertial>
    </link>
    <link name="Link4_left_inner_knuckle">
        <inertial>
            <origin rpy="0 0 0" xyz="0.000123011831763771 0.0507850843201817 0.00103968640075166" />
            <mass value="0.0271177346495152" />
            <inertia ixx="2.61910379223783E-05" ixy="-2.43616858946494E-07" ixz="-6.37789906117123E-09" iyy="2.8270243746167E-06" iyz="-5.37200748039765E-07" izz="2.83695868220296E-05" />
        </inertial>
        <visual>
            <origin rpy="0 0 0" xyz="0 0 0" />
            <geometry>
                <mesh filename="package://robotiq_2f_85_gripper_visualization/meshes/visual/robotiq_arg2f_85_inner_knuckle.dae" scale="0.001 0.001 0.001" />
            </geometry>
            <material name="">
                <color rgba="0.1 0.1 0.1 1" />
            </material>
        </visual>
        <collision>
            <origin rpy="0 0 0" xyz="0 0 0" />
            <geometry>
                <mesh filename="package://robotiq_2f_85_gripper_visualization/meshes/collision/robotiq_arg2f_85_inner_knuckle.dae" scale="0.001 0.001 0.001" />
            </geometry>
        </collision>
    </link>
    <joint name="Link4_left_outer_finger_joint" type="fixed">
        <origin rpy="0 0 0" xyz="0 0.0315 -0.0041" />
        <parent link="Link4_left_outer_knuckle" />
        <child link="Link4_left_outer_finger" />
        <axis xyz="1 0 0" />
    </joint>
    <joint name="Link4_left_inner_knuckle_joint" type="revolute">
        <!-- <origin xyz="0 ${reflect * -0.0127} 0.06142" rpy="${pi / 2 + .725} 0 ${(reflect - 1) * pi / 2}" /> -->
        <origin rpy="0 0 3.141592653589793" xyz="0 -0.0127 0.06142" />
        <parent link="Link4_robotiq_arg2f_base_link" />
        <child link="Link4_left_inner_knuckle" />
        <axis xyz="1 0 0" />
        <limit effort="1000" lower="0" upper="0.8757" velocity="0.5" />
        <mimic joint="Link4_finger_joint" multiplier="1" offset="0" />
    </joint>
    <joint name="Link4_left_inner_finger_joint" type="revolute">
        <origin rpy="0 0 0" xyz="0 0.0061 0.0471" />
        <parent link="Link4_left_outer_finger" />
        <child link="Link4_left_inner_finger" />
        <axis xyz="1 0 0" />
        <limit effort="1000" lower="-0.8757" upper="0" velocity="0.5" />
        <mimic joint="Link4_finger_joint" multiplier="-1" offset="0" />
    </joint>
    <joint name="Link4_left_inner_finger_pad_joint" type="fixed">
        <origin rpy="0 0 0" xyz="0 -0.0220203446692936 0.03242" />
        <parent link="Link4_left_inner_finger" />
        <child link="Link4_left_inner_finger_pad" />
        <axis xyz="0 0 1" />
    </joint>
    <joint name="Link4_finger_joint" type="revolute">
        <origin rpy="0 0 3.141592653589793" xyz="0 -0.0306011 0.054904" />
        <parent link="Link4_robotiq_arg2f_base_link" />
        <child link="Link4_left_outer_knuckle" />
        <axis xyz="1 0 0" />
        <limit effort="1000" lower="0" upper="0.8" velocity="0.5" />
    </joint>
    <joint name="Link4_right_outer_finger_joint" type="fixed">
        <origin rpy="0 0 0" xyz="0 0.0315 -0.0041" />
        <parent link="Link4_right_outer_knuckle" />
        <child link="Link4_right_outer_finger" />
        <axis xyz="1 0 0" />
    </joint>
    <joint name="Link4_right_inner_knuckle_joint" type="revolute">
        <!-- <origin xyz="0 ${reflect * -0.0127} 0.06142" rpy="${pi / 2 + .725} 0 ${(reflect - 1) * pi / 2}" /> -->
        <origin rpy="0 0 0.0" xyz="0 0.0127 0.06142" />
        <parent link="Link4_robotiq_arg2f_base_link" />
        <child link="Link4_right_inner_knuckle" />
        <axis xyz="1 0 0" />
        <limit effort="1000" lower="0" upper="0.8757" velocity="0.5" />
        <mimic joint="Link4_finger_joint" multiplier="1" offset="0" />
    </joint>
    <joint name="Link4_right_inner_finger_joint" type="revolute">
        <origin rpy="0 0 0" xyz="0 0.0061 0.0471" />
        <parent link="Link4_right_outer_finger" />
        <child link="Link4_right_inner_finger" />
        <axis xyz="1 0 0" />
        <limit effort="1000" lower="-0.8757" upper="0" velocity="0.5" />
        <mimic joint="Link4_finger_joint" multiplier="-1" offset="0" />
    </joint>
    <joint name="Link4_right_inner_finger_pad_joint" type="fixed">
        <origin rpy="0 0 0" xyz="0 -0.0220203446692936 0.03242" />
        <parent link="Link4_right_inner_finger" />
        <child link="Link4_right_inner_finger_pad" />
        <axis xyz="0 0 1" />
    </joint>
    <link name="Link4_right_outer_knuckle">
        <inertial>
            <origin rpy="0 0 0" xyz="-0.000200000000003065 0.0199435877845359 0.0292245259211331" />
            <mass value="0.00853198276973456" />
            <inertia ixx="2.89328108496468E-06" ixy="-1.57935047237397E-19" ixz="-1.93980378593255E-19" iyy="1.86719750325683E-06" iyz="-1.21858577871576E-06" izz="1.21905238907251E-06" />
        </inertial>
        <visual>
            <origin rpy="0 0 0" xyz="0 0 0" />
            <geometry>
                <mesh filename="package://robotiq_2f_85_gripper_visualization/meshes/visual/robotiq_arg2f_85_outer_knuckle.dae" scale="0.001 0.001 0.001" />
            </geometry>
            <material name="">
                <color rgba="0.792156862745098 0.819607843137255 0.933333333333333 1" />
            </material>
        </visual>
        <collision>
            <origin rpy="0 0 0" xyz="0 0 0" />
            <geometry>
                <mesh filename="package://robotiq_2f_85_gripper_visualization/meshes/collision/robotiq_arg2f_85_outer_knuckle.dae" scale="0.001 0.001 0.001" />
            </geometry>
        </collision>
    </link>
    <link name="Link4_right_outer_finger">
        <inertial>
            <origin rpy="0 0 0" xyz="0.00030115855001899 0.0373907951953854 -0.0208027427000385" />
            <mass value="0.022614240507152" />
            <inertia ixx="1.52518312458174E-05" ixy="9.76583423954399E-10" ixz="-5.43838577022588E-10" iyy="6.17694243867776E-06" iyz="6.78636130740228E-06" izz="1.16494917907219E-05" />
        </inertial>
        <visual>
            <origin rpy="0 0 0" xyz="0 0 0" />
            <geometry>
                <mesh filename="package://robotiq_2f_85_gripper_visualization/meshes/visual/robotiq_arg2f_85_outer_finger.dae" scale="0.001 0.001 0.001" />
            </geometry>
            <material name="">
                <color rgba="0.1 0.1 0.1 1" />
            </material>
        </visual>
        <collision>
            <origin rpy="0 0 0" xyz="0 0 0" />
            <geometry>
                <mesh filename="package://robotiq_2f_85_gripper_visualization/meshes/collision/robotiq_arg2f_85_outer_finger.dae" scale="0.001 0.001 0.001" />
            </geometry>
        </collision>
    </link>
    <link name="Link4_right_inner_finger">
        <inertial>
            <origin rpy="0 0 0" xyz="0.000299999999999317 0.0160078233491243 -0.0136945669206257" />
            <mass value="0.0104003125914103" />
            <inertia ixx="2.71909453810972E-06" ixy="1.35402465472579E-21" ixz="-7.1817349065269E-22" iyy="7.69100314106116E-07" iyz="6.74715432769696E-07" izz="2.30315190420171E-06" />
        </inertial>
        <visual>
            <origin rpy="0 0 0" xyz="0 0 0" />
            <geometry>
                <mesh filename="package://robotiq_2f_85_gripper_visualization/meshes/visual/robotiq_arg2f_85_inner_finger.dae" scale="0.001 0.001 0.001" />
            </geometry>
            <material name="">
                <color rgba="0.1 0.1 0.1 1" />
            </material>
        </visual>
        <collision>
            <origin rpy="0 0 0" xyz="0 0 0" />
            <geometry>
                <mesh filename="package://robotiq_2f_85_gripper_visualization/meshes/collision/robotiq_arg2f_85_inner_finger.dae" scale="0.001 0.001 0.001" />
            </geometry>
        </collision>
    </link>
    <link name="Link4_right_inner_finger_pad">
        <visual>
            <origin rpy="0 0 0" xyz="0 0 0" />
            <geometry>
                <box size="0.022 0.00635 0.0375" />
            </geometry>
            <material name="">
                <color rgba="0.9 0.9 0.9 1" />
            </material>
        </visual>
        <collision>
            <origin rpy="0 0 0" xyz="0 0 0" />
            <geometry>
                <box size="0.022 0.00635 0.0375" />
            </geometry>
            <material name="">
                <color rgba="0.9 0.0 0.0 1" />
            </material>
        </collision>
        <inertial>
            <mass value="0.1" />
            <origin xyz="0 0 0" rpy="0 0 0" />
            <inertia ixx="0.03" iyy="0.03" izz="0.03" ixy="0.0" ixz="0.0" iyz="0.0" />
        </inertial>
    </link>
    <link name="Link4_right_inner_knuckle">
        <inertial>
            <origin rpy="0 0 0" xyz="0.000123011831763771 0.0507850843201817 0.00103968640075166" />
            <mass value="0.0271177346495152" />
            <inertia ixx="2.61910379223783E-05" ixy="-2.43616858946494E-07" ixz="-6.37789906117123E-09" iyy="2.8270243746167E-06" iyz="-5.37200748039765E-07" izz="2.83695868220296E-05" />
        </inertial>
        <visual>
            <origin rpy="0 0 0" xyz="0 0 0" />
            <geometry>
                <mesh filename="package://robotiq_2f_85_gripper_visualization/meshes/visual/robotiq_arg2f_85_inner_knuckle.dae" scale="0.001 0.001 0.001" />
            </geometry>
            <material name="">
                <color rgba="0.1 0.1 0.1 1" />
            </material>
        </visual>
        <collision>
            <origin rpy="0 0 0" xyz="0 0 0" />
            <geometry>
                <mesh filename="package://robotiq_2f_85_gripper_visualization/meshes/collision/robotiq_arg2f_85_inner_knuckle.dae" scale="0.001 0.001 0.001" />
            </geometry>
        </collision>
    </link>
    <joint name="Link4_right_finger_joint" type="revolute">
        <origin rpy="0 0 0" xyz="0 0.0306011 0.054904" />
        <parent link="Link4_robotiq_arg2f_base_link" />
        <child link="Link4_right_outer_knuckle" />
        <axis xyz="1 0 0" />
        <limit effort="1000" lower="0" upper="0.81" velocity="0.5" />
        <mimic joint="Link4_finger_joint" multiplier="1" offset="0" />
    </joint>
    <link name="Link1_platlink">
        <inertial>
            <origin rpy="0 0 0" xyz="0.02891563 -0.01184461 0.0004999" />
            <mass value="0.0110" />
            <inertia ixx="2.3755012E-06" ixy="4.9413420E-06" ixz="0" iyy="1.2414435E-05" iyz="0" izz="1.46210848E-05" />
        </inertial>
        <visual>
            <origin rpy="0 0 0" xyz="0 0 0" />
            <geometry>
                <mesh filename="package://robot_description/meshes/Link_platlink.STL" />
            </geometry>
            <material name="">
                <color rgba="1 1 1 1" />
            </material>
        </visual>
        <collision>
            <origin rpy="0 0 0" xyz="0 0 0" />
            <geometry>
                <mesh filename="package://robot_description/meshes/Link_platlink.STL" />
            </geometry>
        </collision>
    </link>
    <joint name="Joint1_platlink" type="revolute">
        <origin rpy="1.5707963267948966 0 0.7853981633974483" xyz="0.056569 0.056569 0" />
        <parent link="Link_platform" />
        <child link="Link1_platlink" />
        <axis xyz="0 0 1" />
        <dynamics damping="0.1" friction="0.8" />
        <limit effort="1000" lower="-1.5707963267948966" upper="0" velocity="10" />
    </joint>
    <link name="Link2_platlink">
        <inertial>
            <origin rpy="0 0 0" xyz="0.02891563 -0.01184461 0.0004999" />
            <mass value="0.0110" />
            <inertia ixx="2.3755012E-06" ixy="4.9413420E-06" ixz="0" iyy="1.2414435E-05" iyz="0" izz="1.46210848E-05" />
        </inertial>
        <visual>
            <origin rpy="0 0 0" xyz="0 0 0" />
            <geometry>
                <mesh filename="package://robot_description/meshes/Link_platlink.STL" />
            </geometry>
            <material name="">
                <color rgba="1 1 1 1" />
            </material>
        </visual>
        <collision>
            <origin rpy="0 0 0" xyz="0 0 0" />
            <geometry>
                <mesh filename="package://robot_description/meshes/Link_platlink.STL" />
            </geometry>
        </collision>
    </link>
    <joint name="Joint2_platlink" type="revolute">
        <origin rpy="1.5707963267948966 0 2.356194490192345" xyz="-0.056569 0.056569 0" />
        <parent link="Link_platform" />
        <child link="Link2_platlink" />
        <axis xyz="0 0 1" />
        <dynamics damping="0.1" friction="0.8" />
        <limit effort="1000" lower="-1.5707963267948966" upper="0" velocity="10" />
    </joint>
    <link name="Link3_platlink">
        <inertial>
            <origin rpy="0 0 0" xyz="0.02891563 -0.01184461 0.0004999" />
            <mass value="0.0110" />
            <inertia ixx="2.3755012E-06" ixy="4.9413420E-06" ixz="0" iyy="1.2414435E-05" iyz="0" izz="1.46210848E-05" />
        </inertial>
        <visual>
            <origin rpy="0 0 0" xyz="0 0 0" />
            <geometry>
                <mesh filename="package://robot_description/meshes/Link_platlink.STL" />
            </geometry>
            <material name="">
                <color rgba="1 1 1 1" />
            </material>
        </visual>
        <collision>
            <origin rpy="0 0 0" xyz="0 0 0" />
            <geometry>
                <mesh filename="package://robot_description/meshes/Link_platlink.STL" />
            </geometry>
        </collision>
    </link>
    <joint name="Joint3_platlink" type="revolute">
        <origin rpy="1.5707963267948966 0 3.9269908169872414" xyz="-0.056569 -0.056569 0" />
        <parent link="Link_platform" />
        <child link="Link3_platlink" />
        <axis xyz="0 0 1" />
        <dynamics damping="0.1" friction="0.8" />
        <limit effort="1000" lower="-1.5707963267948966" upper="0" velocity="10" />
    </joint>
    <link name="Link4_platlink">
        <inertial>
            <origin rpy="0 0 0" xyz="0.02891563 -0.01184461 0.0004999" />
            <mass value="0.0110" />
            <inertia ixx="2.3755012E-06" ixy="4.9413420E-06" ixz="0" iyy="1.2414435E-05" iyz="0" izz="1.46210848E-05" />
        </inertial>
        <visual>
            <origin rpy="0 0 0" xyz="0 0 0" />
            <geometry>
                <mesh filename="package://robot_description/meshes/Link_platlink.STL" />
            </geometry>
            <material name="">
                <color rgba="1 1 1 1" />
            </material>
        </visual>
        <collision>
            <origin rpy="0 0 0" xyz="0 0 0" />
            <geometry>
                <mesh filename="package://robot_description/meshes/Link_platlink.STL" />
            </geometry>
        </collision>
    </link>
    <joint name="Joint4_platlink" type="revolute">
        <origin rpy="1.5707963267948966 0 5.497787143782138" xyz="0.056569 -0.056569 0" />
        <parent link="Link_platform" />
        <child link="Link4_platlink" />
        <axis xyz="0 0 1" />
        <dynamics damping="0.1" friction="0.8" />
        <limit effort="1000" lower="-1.5707963267948966" upper="0" velocity="10" />
    </joint>
    <transmission name="trans_Joint_platform">
        <type>transmission_interface/SimpleTransmission</type>
        <joint name="Joint_platform">
            <hardwareInterface>hardware_interface/EffortJointInterface</hardwareInterface>
        </joint>
        <actuator name="Joint_platform_motor">
            <hardwareInterface>hardware_interface/EffortJointInterface</hardwareInterface>
            <mechanicalReduction>1</mechanicalReduction>
        </actuator>
    </transmission>
    <transmission name="trans_Joint1_0">
        <type>transmission_interface/SimpleTransmission</type>
        <joint name="Joint1_0">
            <hardwareInterface>hardware_interface/EffortJointInterface</hardwareInterface>
        </joint>
        <actuator name="Joint1_0_motor">
            <hardwareInterface>hardware_interface/EffortJointInterface</hardwareInterface>
            <mechanicalReduction>1</mechanicalReduction>
        </actuator>
    </transmission>
    <transmission name="trans_Joint1_1">
        <type>transmission_interface/SimpleTransmission</type>
        <joint name="Joint1_1">
            <hardwareInterface>hardware_interface/EffortJointInterface</hardwareInterface>
        </joint>
        <actuator name="Joint1_1_motor">
            <hardwareInterface>hardware_interface/EffortJointInterface</hardwareInterface>
            <mechanicalReduction>1</mechanicalReduction>
        </actuator>
    </transmission>
    <transmission name="trans_Joint1_2">
        <type>transmission_interface/SimpleTransmission</type>
        <joint name="Joint1_2">
            <hardwareInterface>hardware_interface/EffortJointInterface</hardwareInterface>
        </joint>
        <actuator name="Joint1_2_motor">
            <hardwareInterface>hardware_interface/EffortJointInterface</hardwareInterface>
            <mechanicalReduction>1</mechanicalReduction>
        </actuator>
    </transmission>
    <transmission name="trans_Joint1_3">
        <type>transmission_interface/SimpleTransmission</type>
        <joint name="Joint1_3">
            <hardwareInterface>hardware_interface/EffortJointInterface</hardwareInterface>
        </joint>
        <actuator name="Joint1_3_motor">
            <hardwareInterface>hardware_interface/EffortJointInterface</hardwareInterface>
            <mechanicalReduction>1</mechanicalReduction>
        </actuator>
    </transmission>
    <transmission name="trans_Joint1_4">
        <type>transmission_interface/SimpleTransmission</type>
        <joint name="Joint1_4">
            <hardwareInterface>hardware_interface/EffortJointInterface</hardwareInterface>
        </joint>
        <actuator name="Joint1_4_motor">
            <hardwareInterface>hardware_interface/EffortJointInterface</hardwareInterface>
            <mechanicalReduction>1</mechanicalReduction>
        </actuator>
    </transmission>
    <transmission name="trans_Joint1_5">
        <type>transmission_interface/SimpleTransmission</type>
        <joint name="Joint1_5">
            <hardwareInterface>hardware_interface/EffortJointInterface</hardwareInterface>
        </joint>
        <actuator name="Joint1_5_motor">
            <hardwareInterface>hardware_interface/EffortJointInterface</hardwareInterface>
            <mechanicalReduction>1</mechanicalReduction>
        </actuator>
    </transmission>
    <transmission name="trans_Joint1_6">
        <type>transmission_interface/SimpleTransmission</type>
        <joint name="Joint1_6">
            <hardwareInterface>hardware_interface/EffortJointInterface</hardwareInterface>
        </joint>
        <actuator name="Joint1_6_motor">
            <hardwareInterface>hardware_interface/EffortJointInterface</hardwareInterface>
            <mechanicalReduction>1</mechanicalReduction>
        </actuator>
    </transmission>
    <transmission name="trans_Link1_left_inner_knuckle_joint">
        <type>transmission_interface/SimpleTransmission</type>
        <joint name="Link1_left_inner_knuckle_joint">
            <hardwareInterface>hardware_interface/EffortJointInterface</hardwareInterface>
        </joint>
        <actuator name="Link1_left_inner_knuckle_joint_motor">
            <hardwareInterface>hardware_interface/EffortJointInterface</hardwareInterface>
            <mechanicalReduction>1</mechanicalReduction>
        </actuator>
    </transmission>
    <transmission name="trans_Link1_left_inner_finger_joint">
        <type>transmission_interface/SimpleTransmission</type>
        <joint name="Link1_left_inner_finger_joint">
            <hardwareInterface>hardware_interface/EffortJointInterface</hardwareInterface>
        </joint>
        <actuator name="Link1_left_inner_finger_joint_motor">
            <hardwareInterface>hardware_interface/EffortJointInterface</hardwareInterface>
            <mechanicalReduction>1</mechanicalReduction>
        </actuator>
    </transmission>
    <transmission name="trans_Link1_right_inner_knuckle_joint">
        <type>transmission_interface/SimpleTransmission</type>
        <joint name="Link1_right_inner_knuckle_joint">
            <hardwareInterface>hardware_interface/EffortJointInterface</hardwareInterface>
        </joint>
        <actuator name="Link1_right_inner_knuckle_joint_motor">
            <hardwareInterface>hardware_interface/EffortJointInterface</hardwareInterface>
            <mechanicalReduction>1</mechanicalReduction>
        </actuator>
    </transmission>
    <transmission name="trans_Link1_right_inner_finger_joint">
        <type>transmission_interface/SimpleTransmission</type>
        <joint name="Link1_right_inner_finger_joint">
            <hardwareInterface>hardware_interface/EffortJointInterface</hardwareInterface>
        </joint>
        <actuator name="Link1_right_inner_finger_joint_motor">
            <hardwareInterface>hardware_interface/EffortJointInterface</hardwareInterface>
            <mechanicalReduction>1</mechanicalReduction>
        </actuator>
    </transmission>
    <transmission name="trans_Link1_right_finger_joint">
        <type>transmission_interface/SimpleTransmission</type>
        <joint name="Link1_right_finger_joint">
            <hardwareInterface>hardware_interface/EffortJointInterface</hardwareInterface>
        </joint>
        <actuator name="Link1_right_finger_joint_motor">
            <hardwareInterface>hardware_interface/EffortJointInterface</hardwareInterface>
            <mechanicalReduction>1</mechanicalReduction>
        </actuator>
    </transmission>
    <transmission name="trans_Joint2_0">
        <type>transmission_interface/SimpleTransmission</type>
        <joint name="Joint2_0">
            <hardwareInterface>hardware_interface/EffortJointInterface</hardwareInterface>
        </joint>
        <actuator name="Joint2_0_motor">
            <hardwareInterface>hardware_interface/EffortJointInterface</hardwareInterface>
            <mechanicalReduction>1</mechanicalReduction>
        </actuator>
    </transmission>
    <transmission name="trans_Joint2_1">
        <type>transmission_interface/SimpleTransmission</type>
        <joint name="Joint2_1">
            <hardwareInterface>hardware_interface/EffortJointInterface</hardwareInterface>
        </joint>
        <actuator name="Joint2_1_motor">
            <hardwareInterface>hardware_interface/EffortJointInterface</hardwareInterface>
            <mechanicalReduction>1</mechanicalReduction>
        </actuator>
    </transmission>
    <transmission name="trans_Joint2_2">
        <type>transmission_interface/SimpleTransmission</type>
        <joint name="Joint2_2">
            <hardwareInterface>hardware_interface/EffortJointInterface</hardwareInterface>
        </joint>
        <actuator name="Joint2_2_motor">
            <hardwareInterface>hardware_interface/EffortJointInterface</hardwareInterface>
            <mechanicalReduction>1</mechanicalReduction>
        </actuator>
    </transmission>
    <transmission name="trans_Joint2_3">
        <type>transmission_interface/SimpleTransmission</type>
        <joint name="Joint2_3">
            <hardwareInterface>hardware_interface/EffortJointInterface</hardwareInterface>
        </joint>
        <actuator name="Joint2_3_motor">
            <hardwareInterface>hardware_interface/EffortJointInterface</hardwareInterface>
            <mechanicalReduction>1</mechanicalReduction>
        </actuator>
    </transmission>
    <transmission name="trans_Joint2_4">
        <type>transmission_interface/SimpleTransmission</type>
        <joint name="Joint2_4">
            <hardwareInterface>hardware_interface/EffortJointInterface</hardwareInterface>
        </joint>
        <actuator name="Joint2_4_motor">
            <hardwareInterface>hardware_interface/EffortJointInterface</hardwareInterface>
            <mechanicalReduction>1</mechanicalReduction>
        </actuator>
    </transmission>
    <transmission name="trans_Joint2_5">
        <type>transmission_interface/SimpleTransmission</type>
        <joint name="Joint2_5">
            <hardwareInterface>hardware_interface/EffortJointInterface</hardwareInterface>
        </joint>
        <actuator name="Joint2_5_motor">
            <hardwareInterface>hardware_interface/EffortJointInterface</hardwareInterface>
            <mechanicalReduction>1</mechanicalReduction>
        </actuator>
    </transmission>
    <transmission name="trans_Joint2_6">
        <type>transmission_interface/SimpleTransmission</type>
        <joint name="Joint2_6">
            <hardwareInterface>hardware_interface/EffortJointInterface</hardwareInterface>
        </joint>
        <actuator name="Joint2_6_motor">
            <hardwareInterface>hardware_interface/EffortJointInterface</hardwareInterface>
            <mechanicalReduction>1</mechanicalReduction>
        </actuator>
    </transmission>
    <transmission name="trans_Link2_left_inner_knuckle_joint">
        <type>transmission_interface/SimpleTransmission</type>
        <joint name="Link2_left_inner_knuckle_joint">
            <hardwareInterface>hardware_interface/EffortJointInterface</hardwareInterface>
        </joint>
        <actuator name="Link2_left_inner_knuckle_joint_motor">
            <hardwareInterface>hardware_interface/EffortJointInterface</hardwareInterface>
            <mechanicalReduction>1</mechanicalReduction>
        </actuator>
    </transmission>
    <transmission name="trans_Link2_left_inner_finger_joint">
        <type>transmission_interface/SimpleTransmission</type>
        <joint name="Link2_left_inner_finger_joint">
            <hardwareInterface>hardware_interface/EffortJointInterface</hardwareInterface>
        </joint>
        <actuator name="Link2_left_inner_finger_joint_motor">
            <hardwareInterface>hardware_interface/EffortJointInterface</hardwareInterface>
            <mechanicalReduction>1</mechanicalReduction>
        </actuator>
    </transmission>
    <transmission name="trans_Link2_right_inner_knuckle_joint">
        <type>transmission_interface/SimpleTransmission</type>
        <joint name="Link2_right_inner_knuckle_joint">
            <hardwareInterface>hardware_interface/EffortJointInterface</hardwareInterface>
        </joint>
        <actuator name="Link2_right_inner_knuckle_joint_motor">
            <hardwareInterface>hardware_interface/EffortJointInterface</hardwareInterface>
            <mechanicalReduction>1</mechanicalReduction>
        </actuator>
    </transmission>
    <transmission name="trans_Link2_right_inner_finger_joint">
        <type>transmission_interface/SimpleTransmission</type>
        <joint name="Link2_right_inner_finger_joint">
            <hardwareInterface>hardware_interface/EffortJointInterface</hardwareInterface>
        </joint>
        <actuator name="Link2_right_inner_finger_joint_motor">
            <hardwareInterface>hardware_interface/EffortJointInterface</hardwareInterface>
            <mechanicalReduction>1</mechanicalReduction>
        </actuator>
    </transmission>
    <transmission name="trans_Link2_right_finger_joint">
        <type>transmission_interface/SimpleTransmission</type>
        <joint name="Link2_right_finger_joint">
            <hardwareInterface>hardware_interface/EffortJointInterface</hardwareInterface>
        </joint>
        <actuator name="Link2_right_finger_joint_motor">
            <hardwareInterface>hardware_interface/EffortJointInterface</hardwareInterface>
            <mechanicalReduction>1</mechanicalReduction>
        </actuator>
    </transmission>
    <transmission name="trans_Joint3_0">
        <type>transmission_interface/SimpleTransmission</type>
        <joint name="Joint3_0">
            <hardwareInterface>hardware_interface/EffortJointInterface</hardwareInterface>
        </joint>
        <actuator name="Joint3_0_motor">
            <hardwareInterface>hardware_interface/EffortJointInterface</hardwareInterface>
            <mechanicalReduction>1</mechanicalReduction>
        </actuator>
    </transmission>
    <transmission name="trans_Joint3_1">
        <type>transmission_interface/SimpleTransmission</type>
        <joint name="Joint3_1">
            <hardwareInterface>hardware_interface/EffortJointInterface</hardwareInterface>
        </joint>
        <actuator name="Joint3_1_motor">
            <hardwareInterface>hardware_interface/EffortJointInterface</hardwareInterface>
            <mechanicalReduction>1</mechanicalReduction>
        </actuator>
    </transmission>
    <transmission name="trans_Joint3_2">
        <type>transmission_interface/SimpleTransmission</type>
        <joint name="Joint3_2">
            <hardwareInterface>hardware_interface/EffortJointInterface</hardwareInterface>
        </joint>
        <actuator name="Joint3_2_motor">
            <hardwareInterface>hardware_interface/EffortJointInterface</hardwareInterface>
            <mechanicalReduction>1</mechanicalReduction>
        </actuator>
    </transmission>
    <transmission name="trans_Joint3_3">
        <type>transmission_interface/SimpleTransmission</type>
        <joint name="Joint3_3">
            <hardwareInterface>hardware_interface/EffortJointInterface</hardwareInterface>
        </joint>
        <actuator name="Joint3_3_motor">
            <hardwareInterface>hardware_interface/EffortJointInterface</hardwareInterface>
            <mechanicalReduction>1</mechanicalReduction>
        </actuator>
    </transmission>
    <transmission name="trans_Joint3_4">
        <type>transmission_interface/SimpleTransmission</type>
        <joint name="Joint3_4">
            <hardwareInterface>hardware_interface/EffortJointInterface</hardwareInterface>
        </joint>
        <actuator name="Joint3_4_motor">
            <hardwareInterface>hardware_interface/EffortJointInterface</hardwareInterface>
            <mechanicalReduction>1</mechanicalReduction>
        </actuator>
    </transmission>
    <transmission name="trans_Joint3_5">
        <type>transmission_interface/SimpleTransmission</type>
        <joint name="Joint3_5">
            <hardwareInterface>hardware_interface/EffortJointInterface</hardwareInterface>
        </joint>
        <actuator name="Joint3_5_motor">
            <hardwareInterface>hardware_interface/EffortJointInterface</hardwareInterface>
            <mechanicalReduction>1</mechanicalReduction>
        </actuator>
    </transmission>
    <transmission name="trans_Joint3_6">
        <type>transmission_interface/SimpleTransmission</type>
        <joint name="Joint3_6">
            <hardwareInterface>hardware_interface/EffortJointInterface</hardwareInterface>
        </joint>
        <actuator name="Joint3_6_motor">
            <hardwareInterface>hardware_interface/EffortJointInterface</hardwareInterface>
            <mechanicalReduction>1</mechanicalReduction>
        </actuator>
    </transmission>
    <transmission name="trans_Link3_left_inner_knuckle_joint">
        <type>transmission_interface/SimpleTransmission</type>
        <joint name="Link3_left_inner_knuckle_joint">
            <hardwareInterface>hardware_interface/EffortJointInterface</hardwareInterface>
        </joint>
        <actuator name="Link3_left_inner_knuckle_joint_motor">
            <hardwareInterface>hardware_interface/EffortJointInterface</hardwareInterface>
            <mechanicalReduction>1</mechanicalReduction>
        </actuator>
    </transmission>
    <transmission name="trans_Link3_left_inner_finger_joint">
        <type>transmission_interface/SimpleTransmission</type>
        <joint name="Link3_left_inner_finger_joint">
            <hardwareInterface>hardware_interface/EffortJointInterface</hardwareInterface>
        </joint>
        <actuator name="Link3_left_inner_finger_joint_motor">
            <hardwareInterface>hardware_interface/EffortJointInterface</hardwareInterface>
            <mechanicalReduction>1</mechanicalReduction>
        </actuator>
    </transmission>
    <transmission name="trans_Link3_right_inner_knuckle_joint">
        <type>transmission_interface/SimpleTransmission</type>
        <joint name="Link3_right_inner_knuckle_joint">
            <hardwareInterface>hardware_interface/EffortJointInterface</hardwareInterface>
        </joint>
        <actuator name="Link3_right_inner_knuckle_joint_motor">
            <hardwareInterface>hardware_interface/EffortJointInterface</hardwareInterface>
            <mechanicalReduction>1</mechanicalReduction>
        </actuator>
    </transmission>
    <transmission name="trans_Link3_right_inner_finger_joint">
        <type>transmission_interface/SimpleTransmission</type>
        <joint name="Link3_right_inner_finger_joint">
            <hardwareInterface>hardware_interface/EffortJointInterface</hardwareInterface>
        </joint>
        <actuator name="Link3_right_inner_finger_joint_motor">
            <hardwareInterface>hardware_interface/EffortJointInterface</hardwareInterface>
            <mechanicalReduction>1</mechanicalReduction>
        </actuator>
    </transmission>
    <transmission name="trans_Link3_right_finger_joint">
        <type>transmission_interface/SimpleTransmission</type>
        <joint name="Link3_right_finger_joint">
            <hardwareInterface>hardware_interface/EffortJointInterface</hardwareInterface>
        </joint>
        <actuator name="Link3_right_finger_joint_motor">
            <hardwareInterface>hardware_interface/EffortJointInterface</hardwareInterface>
            <mechanicalReduction>1</mechanicalReduction>
        </actuator>
    </transmission>
    <transmission name="trans_Joint4_0">
        <type>transmission_interface/SimpleTransmission</type>
        <joint name="Joint4_0">
            <hardwareInterface>hardware_interface/EffortJointInterface</hardwareInterface>
        </joint>
        <actuator name="Joint4_0_motor">
            <hardwareInterface>hardware_interface/EffortJointInterface</hardwareInterface>
            <mechanicalReduction>1</mechanicalReduction>
        </actuator>
    </transmission>
    <transmission name="trans_Joint4_1">
        <type>transmission_interface/SimpleTransmission</type>
        <joint name="Joint4_1">
            <hardwareInterface>hardware_interface/EffortJointInterface</hardwareInterface>
        </joint>
        <actuator name="Joint4_1_motor">
            <hardwareInterface>hardware_interface/EffortJointInterface</hardwareInterface>
            <mechanicalReduction>1</mechanicalReduction>
        </actuator>
    </transmission>
    <transmission name="trans_Joint4_2">
        <type>transmission_interface/SimpleTransmission</type>
        <joint name="Joint4_2">
            <hardwareInterface>hardware_interface/EffortJointInterface</hardwareInterface>
        </joint>
        <actuator name="Joint4_2_motor">
            <hardwareInterface>hardware_interface/EffortJointInterface</hardwareInterface>
            <mechanicalReduction>1</mechanicalReduction>
        </actuator>
    </transmission>
    <transmission name="trans_Joint4_3">
        <type>transmission_interface/SimpleTransmission</type>
        <joint name="Joint4_3">
            <hardwareInterface>hardware_interface/EffortJointInterface</hardwareInterface>
        </joint>
        <actuator name="Joint4_3_motor">
            <hardwareInterface>hardware_interface/EffortJointInterface</hardwareInterface>
            <mechanicalReduction>1</mechanicalReduction>
        </actuator>
    </transmission>
    <transmission name="trans_Joint4_4">
        <type>transmission_interface/SimpleTransmission</type>
        <joint name="Joint4_4">
            <hardwareInterface>hardware_interface/EffortJointInterface</hardwareInterface>
        </joint>
        <actuator name="Joint4_4_motor">
            <hardwareInterface>hardware_interface/EffortJointInterface</hardwareInterface>
            <mechanicalReduction>1</mechanicalReduction>
        </actuator>
    </transmission>
    <transmission name="trans_Joint4_5">
        <type>transmission_interface/SimpleTransmission</type>
        <joint name="Joint4_5">
            <hardwareInterface>hardware_interface/EffortJointInterface</hardwareInterface>
        </joint>
        <actuator name="Joint4_5_motor">
            <hardwareInterface>hardware_interface/EffortJointInterface</hardwareInterface>
            <mechanicalReduction>1</mechanicalReduction>
        </actuator>
    </transmission>
    <transmission name="trans_Joint4_6">
        <type>transmission_interface/SimpleTransmission</type>
        <joint name="Joint4_6">
            <hardwareInterface>hardware_interface/EffortJointInterface</hardwareInterface>
        </joint>
        <actuator name="Joint4_6_motor">
            <hardwareInterface>hardware_interface/EffortJointInterface</hardwareInterface>
            <mechanicalReduction>1</mechanicalReduction>
        </actuator>
    </transmission>
    <transmission name="trans_Link4_left_inner_knuckle_joint">
        <type>transmission_interface/SimpleTransmission</type>
        <joint name="Link4_left_inner_knuckle_joint">
            <hardwareInterface>hardware_interface/EffortJointInterface</hardwareInterface>
        </joint>
        <actuator name="Link4_left_inner_knuckle_joint_motor">
            <hardwareInterface>hardware_interface/EffortJointInterface</hardwareInterface>
            <mechanicalReduction>1</mechanicalReduction>
        </actuator>
    </transmission>
    <transmission name="trans_Link4_left_inner_finger_joint">
        <type>transmission_interface/SimpleTransmission</type>
        <joint name="Link4_left_inner_finger_joint">
            <hardwareInterface>hardware_interface/EffortJointInterface</hardwareInterface>
        </joint>
        <actuator name="Link4_left_inner_finger_joint_motor">
            <hardwareInterface>hardware_interface/EffortJointInterface</hardwareInterface>
            <mechanicalReduction>1</mechanicalReduction>
        </actuator>
    </transmission>
    <transmission name="trans_Link4_right_inner_knuckle_joint">
        <type>transmission_interface/SimpleTransmission</type>
        <joint name="Link4_right_inner_knuckle_joint">
            <hardwareInterface>hardware_interface/EffortJointInterface</hardwareInterface>
        </joint>
        <actuator name="Link4_right_inner_knuckle_joint_motor">
            <hardwareInterface>hardware_interface/EffortJointInterface</hardwareInterface>
            <mechanicalReduction>1</mechanicalReduction>
        </actuator>
    </transmission>
    <transmission name="trans_Link4_right_inner_finger_joint">
        <type>transmission_interface/SimpleTransmission</type>
        <joint name="Link4_right_inner_finger_joint">
            <hardwareInterface>hardware_interface/EffortJointInterface</hardwareInterface>
        </joint>
        <actuator name="Link4_right_inner_finger_joint_motor">
            <hardwareInterface>hardware_interface/EffortJointInterface</hardwareInterface>
            <mechanicalReduction>1</mechanicalReduction>
        </actuator>
    </transmission>
    <transmission name="trans_Link4_right_finger_joint">
        <type>transmission_interface/SimpleTransmission</type>
        <joint name="Link4_right_finger_joint">
            <hardwareInterface>hardware_interface/EffortJointInterface</hardwareInterface>
        </joint>
        <actuator name="Link4_right_finger_joint_motor">
            <hardwareInterface>hardware_interface/EffortJointInterface</hardwareInterface>
            <mechanicalReduction>1</mechanicalReduction>
        </actuator>
    </transmission>
    <transmission name="trans_Joint1_platlink">
        <type>transmission_interface/SimpleTransmission</type>
        <joint name="Joint1_platlink">
            <hardwareInterface>hardware_interface/EffortJointInterface</hardwareInterface>
        </joint>
        <actuator name="Joint1_platlink_motor">
            <hardwareInterface>hardware_interface/EffortJointInterface</hardwareInterface>
            <mechanicalReduction>1</mechanicalReduction>
        </actuator>
    </transmission>
    <transmission name="trans_Joint2_platlink">
        <type>transmission_interface/SimpleTransmission</type>
        <joint name="Joint2_platlink">
            <hardwareInterface>hardware_interface/EffortJointInterface</hardwareInterface>
        </joint>
        <actuator name="Joint2_platlink_motor">
            <hardwareInterface>hardware_interface/EffortJointInterface</hardwareInterface>
            <mechanicalReduction>1</mechanicalReduction>
        </actuator>
    </transmission>
    <transmission name="trans_Joint3_platlink">
        <type>transmission_interface/SimpleTransmission</type>
        <joint name="Joint3_platlink">
            <hardwareInterface>hardware_interface/EffortJointInterface</hardwareInterface>
        </joint>
        <actuator name="Joint3_platlink_motor">
            <hardwareInterface>hardware_interface/EffortJointInterface</hardwareInterface>
            <mechanicalReduction>1</mechanicalReduction>
        </actuator>
    </transmission>
    <transmission name="trans_Joint4_platlink">
        <type>transmission_interface/SimpleTransmission</type>
        <joint name="Joint4_platlink">
            <hardwareInterface>hardware_interface/EffortJointInterface</hardwareInterface>
        </joint>
        <actuator name="Joint4_platlink_motor">
            <hardwareInterface>hardware_interface/EffortJointInterface</hardwareInterface>
            <mechanicalReduction>1</mechanicalReduction>
        </actuator>
    </transmission>
    <gazebo>
        <plugin name="gazebo_ros_control" filename="libgazebo_ros_control.so">
            <robotNamespace>/</robotNamespace>
        </plugin>
    </gazebo>
</robot>
